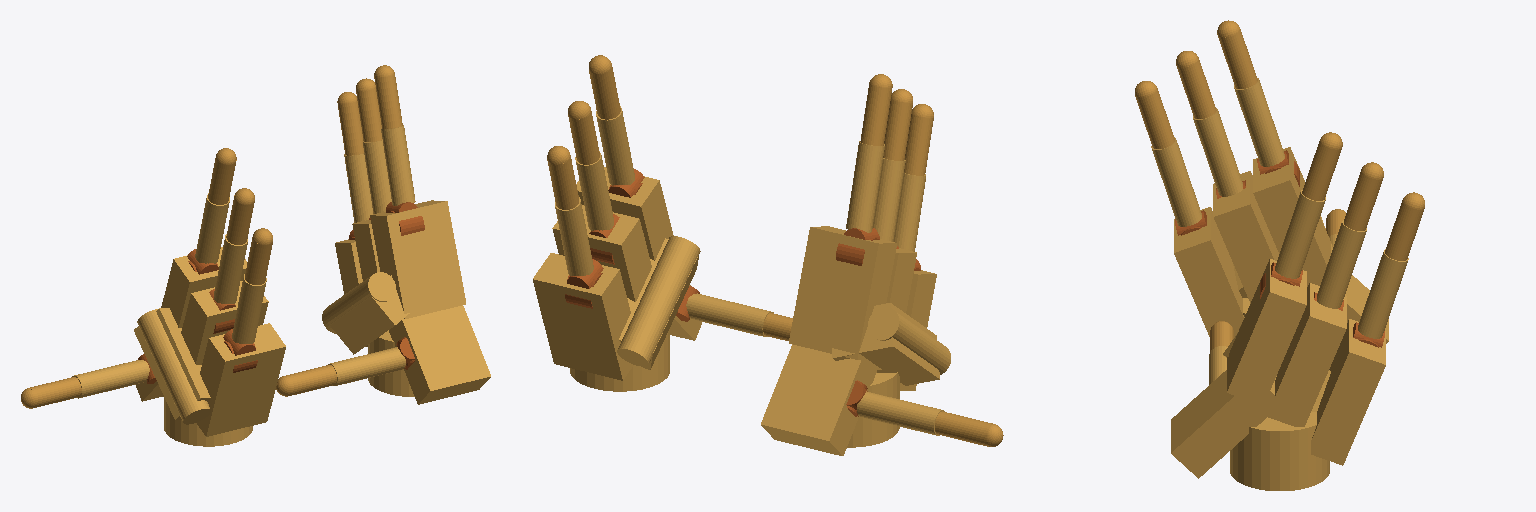
--- What the picture shows (computed from the rendered views, not written in the file) ---
3 views of the same robot in one strip: view 1: azimuth 30°, elevation 25°; view 2: azimuth 150°, elevation 25°; view 3: azimuth 270°, elevation 25° (orthographic).
Model sandia_hands with 79 links and 78 joints (30 revolute, 6 prismatic, 42 fixed), rooted at world, posed all joints at 0.
Visible links, largest first — view 1: right_palm, left_palm, right_f0_1, left_f3_1, right_f3_1, left_f1_1, left_f2_1, left_f0_1, right_f1_1, right_f2_1, right_f0_2, left_f3_2 (+8 smaller); view 2: left_palm, right_palm, left_f0_1, left_f3_1, right_f3_1, right_f2_1, right_f0_1, right_f1_1, left_f1_1, left_f2_1, left_f0_2, left_f3_2 (+8 smaller); view 3: right_palm, left_palm, right_f2_1, right_f0_1, left_f0_1, left_f2_1, right_f1_1, left_f1_1, right_f0_2, right_f1_2, left_f0_2, left_f1_2 (+3 smaller).
Link boxes in pixels (x1=…): right_palm: x1=322, y1=200, x2=490, y2=404; left_palm: x1=134, y1=247, x2=285, y2=446; right_f0_1: x1=381, y1=125, x2=415, y2=205; left_f3_1: x1=72, y1=360, x2=149, y2=398; right_f3_1: x1=328, y1=347, x2=405, y2=385; left_f1_1: x1=214, y1=234, x2=247, y2=303; left_f2_1: x1=232, y1=274, x2=266, y2=343; left_f0_1: x1=195, y1=193, x2=229, y2=263; right_f1_1: x1=363, y1=140, x2=391, y2=213; right_f2_1: x1=344, y1=153, x2=372, y2=222; right_f0_2: x1=374, y1=65, x2=402, y2=128; left_f3_2: x1=21, y1=377, x2=81, y2=408; left_palm: x1=761, y1=226, x2=950, y2=455; right_palm: x1=533, y1=167, x2=701, y2=391; left_f0_1: x1=846, y1=141, x2=884, y2=232; left_f3_1: x1=857, y1=391, x2=944, y2=435; right_f3_1: x1=686, y1=293, x2=773, y2=336; right_f2_1: x1=555, y1=197, x2=593, y2=275; right_f0_1: x1=596, y1=106, x2=634, y2=185; right_f1_1: x1=575, y1=151, x2=613, y2=230; left_f1_1: x1=873, y1=158, x2=905, y2=241; left_f2_1: x1=894, y1=173, x2=925, y2=251; left_f0_2: x1=860, y1=74, x2=892, y2=145; left_f3_2: x1=935, y1=411, x2=1003, y2=446; right_palm: x1=1171, y1=259, x2=1385, y2=490; left_palm: x1=1174, y1=147, x2=1388, y2=343; right_f2_1: x1=1358, y1=249, x2=1408, y2=338; right_f0_1: x1=1275, y1=190, x2=1325, y2=278; left_f0_1: x1=1234, y1=78, x2=1284, y2=166; left_f2_1: x1=1151, y1=137, x2=1201, y2=226; right_f1_1: x1=1317, y1=220, x2=1366, y2=308; left_f1_1: x1=1193, y1=108, x2=1242, y2=196; right_f0_2: x1=1302, y1=132, x2=1342, y2=200; right_f1_2: x1=1344, y1=162, x2=1383, y2=230; left_f0_2: x1=1217, y1=20, x2=1257, y2=88; left_f1_2: x1=1176, y1=51, x2=1216, y2=118.
Bounding box of the posed robot: 0.396 × 0.2197 × 0.2782 m (x, y, z).
Geometry: primitives only (box / cylinder / sphere), no mesh files.

The robot description file, URDF, robot "sandia_hands":
<?xml version="1.0" ?>
<!-- =================================================================================== -->
<!-- |    This document was autogenerated by xacro from sandia_hands_w_floating_bases.urdf.xacro | -->
<!-- |    EDITING THIS FILE BY HAND IS NOT RECOMMENDED                                 | -->
<!-- =================================================================================== -->
<robot name="sandia_hands" xmlns:controller="http://playerstage.sourceforge.net/gazebo/xmlschema/#controller" xmlns:interface="http://playerstage.sourceforge.net/gazebo/xmlschema/#interface" xmlns:sensor="http://playerstage.sourceforge.net/gazebo/xmlschema/#sensor" xmlns:xacro="http://www.ros.org/wiki/xacro">
  <!-- derived from /usr/share/sandia-hand-5.1/ros/sandia_hand_description/robots/sandia_hand_both_on_box.urdf.xacro-->
  <!-- Commenting out urdf with meshes, using simple collision shapes instead -->
  <!--<include filename="$(find sandia_hand_description)/urdf/sandia_hand.urdf.xacro" />-->
  <link name="world">
    <origin rpy="0 0 0" xyz="0 0 0"/>
    <inertial>
      <mass value="0.1"/>
      <origin xyz="0 0 0"/>
      <inertia ixx="0.01" ixy="0" ixz="0" iyy="0.01" iyz="0" izz="0.01"/>
    </inertial>
  </link>
  <link name="right_base_x">
    <origin rpy="0 0 0" xyz="0 0 0"/>
    <inertial>
      <mass value="0.1"/>
      <origin xyz="0 0 0"/>
      <inertia ixx="0.01" ixy="0" ixz="0" iyy="0.01" iyz="0" izz="0.01"/>
    </inertial>
  </link>
  <link name="right_base_y">
    <origin rpy="0 0 0" xyz="0 0 0"/>
    <inertial>
      <mass value="0.1"/>
      <origin xyz="0 0 0"/>
      <inertia ixx="0.01" ixy="0" ixz="0" iyy="0.01" iyz="0" izz="0.01"/>
    </inertial>
  </link>
  <link name="right_base_z">
    <origin rpy="0 0 0" xyz="0 0 0"/>
    <inertial>
      <mass value="0.1"/>
      <origin xyz="0 0 0"/>
      <inertia ixx="0.01" ixy="0" ixz="0" iyy="0.01" iyz="0" izz="0.01"/>
    </inertial>
  </link>
  <link name="right_base_roll">
    <origin rpy="0 0 0" xyz="0 0 0"/>
    <inertial>
      <mass value="0.1"/>
      <origin xyz="0 0 0"/>
      <inertia ixx="0.01" ixy="0" ixz="0" iyy="0.01" iyz="0" izz="0.01"/>
    </inertial>
  </link>
  <link name="right_base_pitch">
    <origin rpy="0 0 0" xyz="0 0 0"/>
    <inertial>
      <mass value="0.1"/>
      <origin xyz="0 0 0"/>
      <inertia ixx="0.01" ixy="0" ixz="0" iyy="0.01" iyz="0" izz="0.01"/>
    </inertial>
  </link>
  <link name="right_base_yaw">
    <origin rpy="0 0 0" xyz="0 0 0"/>
    <inertial>
      <mass value="0.1"/>
      <origin xyz="0 0 0"/>
      <inertia ixx="0.01" ixy="0" ixz="0" iyy="0.01" iyz="0" izz="0.01"/>
    </inertial>
  </link>
  <joint name="right_base_x" type="prismatic">
    <axis xyz="1 0 0"/>
    <parent link="world"/>
    <child link="right_base_x"/>
    <limit effort="1" lower="-10" upper="10" velocity="1"/>
    <!-- <safety_controller soft_lower_limit="${-1.57079-10.0}" soft_upper_limit="${1.57079+10.0}" k_position="1000.0" k_velocity="1000.0"/> -->
    <dynamics damping="0.1"/>
    <origin rpy="0 0 0" xyz="0.1 0 0.0"/>
  </joint>
  <joint name="right_base_y" type="prismatic">
    <axis xyz="0 1 0"/>
    <parent link="right_base_x"/>
    <child link="right_base_y"/>
    <limit effort="1" lower="-10" upper="10" velocity="1"/>
    <!-- <safety_controller soft_lower_limit="${-1.57079-10.0}" soft_upper_limit="${1.57079+10.0}" k_position="1000.0" k_velocity="1000.0"/> -->
    <dynamics damping="0.1"/>
    <origin rpy="0 0 0" xyz="0 0 0"/>
  </joint>
  <joint name="right_base_z" type="prismatic">
    <axis xyz="0 0 1"/>
    <parent link="right_base_y"/>
    <child link="right_base_z"/>
    <limit effort="1" lower="-10" upper="10" velocity="1"/>
    <!-- <safety_controller soft_lower_limit="${-1.57079-10.0}" soft_upper_limit="${1.57079+10.0}" k_position="1000.0" k_velocity="1000.0"/> -->
    <dynamics damping="0.1"/>
    <origin rpy="0 0 0" xyz="0 0 0"/>
  </joint>
  <joint name="right_base_roll" type="revolute">
    <axis xyz="1 0 0"/>
    <parent link="right_base_z"/>
    <child link="right_base_roll"/>
    <limit effort="1" lower="-6.2832" upper="6.2832" velocity="1"/>
    <safety_controller k_position="1000.0" k_velocity="1000.0" soft_lower_limit="-11.57079" soft_upper_limit="11.57079"/>
    <dynamics damping="0.1"/>
    <origin rpy="0 0 0" xyz="0 0 0"/>
  </joint>
  <joint name="right_base_pitch" type="revolute">
    <axis xyz="0 1 0"/>
    <parent link="right_base_roll"/>
    <child link="right_base_pitch"/>
    <limit effort="1" lower="-6.2832" upper="6.2832" velocity="1"/>
    <safety_controller k_position="1000.0" k_velocity="1000.0" soft_lower_limit="-11.57079" soft_upper_limit="11.57079"/>
    <dynamics damping="0.1"/>
    <origin rpy="0 0 0" xyz="0 0 0"/>
  </joint>
  <joint name="right_base_yaw" type="revolute">
    <axis xyz="0 0 1"/>
    <parent link="right_base_pitch"/>
    <child link="right_base_yaw"/>
    <limit effort="1" lower="-6.2832" upper="6.2832" velocity="1"/>
    <safety_controller k_position="1000.0" k_velocity="1000.0" soft_lower_limit="-11.57079" soft_upper_limit="11.57079"/>
    <dynamics damping="0.1"/>
    <origin rpy="0 0 0" xyz="0 0 0"/>
  </joint>
  <link name="right_palm">
    <origin rpy="0 0 0" xyz="0 0 0"/>
    <inertial>
      <mass value="1.303"/>
      <origin xyz="0 0 0"/>
      <!-- solid sphere with 5cm radius -->
      <inertia ixx="0.001303" ixy="0" ixz="0" iyy="0.001303" iyz="0" izz="0.001303"/>
    </inertial>
    <!-- begin simple shape approximation of palm -->
    <collision group="default">
      <origin rpy="0 1.57079632679 -0.9" xyz="0.069 0.016 0.038"/>
      <geometry>
        <cylinder length="0.100" radius="0.013"/>
      </geometry>
    </collision>
    <collision group="other">
      <origin rpy="0.41 0 -0.9" xyz="0.064 0.008 0.021"/>
      <geometry>
        <box size="0.09 .035 .05"/>
      </geometry>
    </collision>
    <collision group="other">
      <origin rpy="0 1.57079632679 0" xyz="0.02 0 -0.005"/>
      <geometry>
        <cylinder length="0.05" radius="0.038"/>
      </geometry>
    </collision>
    <collision group="other">
      <origin rpy="0 0 0.37" xyz="0.11 -0.01 -0.005"/>
      <geometry>
        <box size="0.09 .03 .06"/>
      </geometry>
    </collision>
    <collision group="other">
      <origin rpy="0 0 0.37" xyz="0.09 0.02 -0.005"/>
      <geometry>
        <box size="0.09 .03 .06"/>
      </geometry>
    </collision>
    <collision group="other">
      <origin rpy="0 0 0.37" xyz="0.060 0.05 -0.005"/>
      <geometry>
        <box size="0.09 .03 .06"/>
      </geometry>
    </collision>
    <collision group="other">
      <origin rpy="0 0 0.79" xyz="0.044 -0.04 -0.005"/>
      <geometry>
        <box size="0.09 .03 .06"/>
      </geometry>
    </collision>
    <!--   end simple shape approximation of palm -->
    <!-- begin visual shape approximation of palm -->
    <visual>
      <origin rpy="0 1.57079632679 -0.9" xyz="0.069 0.016 0.038"/>
      <geometry>
        <cylinder length="0.100" radius="0.013"/>
      </geometry>
      <material name="right_sandia_hand_skin">
        <color rgba="0.835 0.655 0.345 1.0"/>
      </material>
    </visual>
    <visual>
      <origin rpy="0.41 0 -0.9" xyz="0.064 0.008 0.021"/>
      <geometry>
        <box size="0.09 .035 .05"/>
      </geometry>
      <material name="right_sandia_hand_skin">
        <color rgba="0.835 0.655 0.345 1.0"/>
      </material>
    </visual>
    <visual>
      <origin rpy="0 1.57079632679 0" xyz="0.02 0 -0.005"/>
      <geometry>
        <cylinder length="0.05" radius="0.038"/>
      </geometry>
      <material name="right_sandia_hand_skin">
        <color rgba="0.835 0.655 0.345 1.0"/>
      </material>
    </visual>
    <visual>
      <origin rpy="0 0 0.37" xyz="0.11 -0.01 -0.005"/>
      <geometry>
        <box size="0.09 .03 .06"/>
      </geometry>
      <material name="right_sandia_hand_skin">
        <color rgba="0.835 0.655 0.345 1.0"/>
      </material>
    </visual>
    <visual>
      <origin rpy="0 0 0.37" xyz="0.09 0.02 -0.005"/>
      <geometry>
        <box size="0.09 .03 .06"/>
      </geometry>
      <material name="right_sandia_hand_skin">
        <color rgba="0.835 0.655 0.345 1.0"/>
      </material>
    </visual>
    <visual>
      <origin rpy="0 0 0.37" xyz="0.060 0.05 -0.005"/>
      <geometry>
        <box size="0.09 .03 .06"/>
      </geometry>
      <material name="right_sandia_hand_skin">
        <color rgba="0.835 0.655 0.345 1.0"/>
      </material>
    </visual>
    <visual>
      <origin rpy="0 0 0.79" xyz="0.044 -0.04 -0.005"/>
      <geometry>
        <box size="0.09 .03 .06"/>
      </geometry>
      <material name="right_sandia_hand_skin">
        <color rgba="0.835 0.655 0.345 1.0"/>
      </material>
    </visual>
    <!--   end visual shape approximation of palm -->
    <!-- begin collision mesh of f2 ->
      <collision group="default">
        <origin xyz="0 0 0" rpy="0 0 0"/>
        <geometry>
          <mesh filename="package://sandia_hand_description/meshes/palm.stl"/>
        </geometry>
      </collision>
      <!-   end collision mesh of f2 -->
    <!-- begin visual mesh of f2    ->
      <visual>
        <origin xyz="0 0 0" rpy="0 0 0"/>
        <geometry>
          <mesh filename="package://sandia_hand_description/meshes/palm.stl"/>
        </geometry>
        <material name="${side}_sandia_hand_skin">
          <color rgba="0.835 0.655 0.345 1.0"/>
        </material>
      </visual>
      <!-   end visual mesh of f2 -->
  </link>
  <joint name="right_sandia_hand_joint" type="fixed">
    <parent link="right_base_yaw"/>
    <child link="right_palm"/>
    <origin rpy="0 -1.57079 0" xyz="0 0 0.0"/>
  </joint>
  <link name="right_f0_base">
    <origin rpy="0 0 0" xyz="0 0 0"/>
    <inertial>
      <!-- total mass is 2.303 kg, palm is about 1.303 kg, distribute the rest into _base -->
      <mass value="0.250"/>
      <!-- (2.303 - 1.303) / 4 -->
      <origin xyz="0 0 0"/>
      <!-- model as sphere with radius of 1cm -->
      <inertia ixx="0.00001" ixy="0" ixz="0" iyy="0.00001" iyz="0" izz="0.00001"/>
    </inertial>
  </link>
  <link name="right_f0_fixed_accel">
    <origin rpy="0 0 0" xyz="0 0 0"/>
    <inertial>
      <mass value="0.01"/>
      <origin xyz="0 0 0"/>
      <inertia ixx="0.000001" ixy="0" ixz="0" iyy="0.000001" iyz="0" izz="0.000001"/>
    </inertial>
  </link>
  <link name="right_f0_0">
    <origin rpy="0 0 0" xyz="0 0 0"/>
    <inertial>
      <mass value="0.106"/>
      <!-- F1 -->
      <origin xyz="0 0 0"/>
      <!-- solid cylinder -->
      <inertia ixx="0.00011505" ixy="0" ixz="0" iyy="0.00011505" iyz="0" izz="0.000011925"/>
    </inertial>
    <!-- begin simple shape approximation of f0 -->
    <collision group="default">
      <origin rpy="0 0 0" xyz="0 0 0.003"/>
      <geometry>
        <cylinder length="0.023" radius="0.015"/>
      </geometry>
    </collision>
    <collision group="other">
      <origin rpy="1.57079632679 0 0" xyz="0.011 0 0.003"/>
      <geometry>
        <cylinder length="0.023" radius="0.01"/>
      </geometry>
    </collision>
    <!--   end simple shape approximation of f0 -->
    <!-- begin visual shape approximation of f0 -->
    <visual>
      <origin rpy="0 0 0" xyz="0 0 0.003"/>
      <geometry>
        <cylinder length="0.023" radius="0.015"/>
      </geometry>
      <material name="right_sandia_hand_skin_suntan">
        <color rgba="0.7 0.4 0.2 1.0"/>
      </material>
    </visual>
    <visual>
      <origin rpy="1.57079632679 0 0" xyz="0.011 0 0.003"/>
      <geometry>
        <cylinder length="0.023" radius="0.01"/>
      </geometry>
      <material name="right_sandia_hand_skin_suntan">
        <color rgba="0.7 0.4 0.2 1.0"/>
      </material>
    </visual>
    <!--   end visual shape approximation of f0 -->
    <!-- begin collision mesh of f0 ->
      <collision group="default">
        <origin xyz="0 0 0" rpy="0 0 0"/>
        <geometry>
          <mesh filename="package://sandia_hand_description/meshes/f0.stl"/>
        </geometry>
      </collision>
      <!-   end collision mesh of f0 -->
    <!-- begin visual mesh of f0 ->
      <visual>
        <origin xyz="0 0 0" rpy="0 0 0"/>
        <geometry>
          <mesh filename="package://sandia_hand_description/meshes/f0.stl"/>
        </geometry>
        <material name="${side}_sandia_hand_skin_suntan">
          <color rgba="0.7 0.4 0.2 1.0"/>
        </material>
      </visual>
      <!-   end visual mesh of f0 -->
  </link>
  <link name="right_f0_1">
    <origin rpy="0 0 0" xyz="0 0 0"/>
    <inertial>
      <mass value="0.033"/>
      <!-- F2 -->
      <origin xyz="0 0 0"/>
      <!-- solid cylinder -->
      <inertia ixx="0.00000165" ixy="0" ixz="0" iyy="0.00001316975" iyz="0" izz="0.00001316975"/>
    </inertial>
    <!-- begin simple shape approximation of f1 -->
    <collision group="default">
      <origin rpy="0 1.57079632679 0" xyz="0.024 0 0"/>
      <geometry>
        <cylinder length="0.067" radius="0.01"/>
      </geometry>
    </collision>
    <!--   end simple shape approximation of f1 -->
    <!-- begin visual shape approximation of f1 -->
    <visual>
      <origin rpy="0 1.57079632679 0" xyz="0.024 0 0"/>
      <geometry>
        <cylinder length="0.067" radius="0.01"/>
      </geometry>
      <material name="right_sandia_hand_skin">
        <color rgba="0.835 0.655 0.345 1.0"/>
      </material>
    </visual>
    <!--   end visual shape approximation of f1 -->
    <!-- begin collision mesh of f1 ->
      <collision group="default">
        <origin xyz="0 0 0" rpy="0 0 0"/>
        <geometry>
          <mesh filename="package://sandia_hand_description/meshes/f1.stl"/>
        </geometry>
      </collision>
      <!-   end collision mesh of f1 -->
    <!-- begin visual mesh of f1 ->
      <visual>
        <origin xyz="0 0 0" rpy="0 0 0"/>
        <geometry>
          <mesh filename="package://sandia_hand_description/meshes/f1.stl"/>
        </geometry>
        <material name="${side}_sandia_hand_skin">
          <color rgba="0.835 0.655 0.345 1.0"/>
        </material>
      </visual>
      <!-   end visual mesh of f1 -->
  </link>
  <link name="right_f0_1_accel">
    <origin rpy="0 0 0" xyz="0 0 0"/>
    <inertial>
      <mass value="0.01"/>
      <origin xyz="0 0 0"/>
      <inertia ixx="0.000001" ixy="0" ixz="0" iyy="0.000001" iyz="0" izz="0.000001"/>
    </inertial>
  </link>
  <link name="right_f0_2">
    <origin rpy="0 0 0" xyz="0 0 0"/>
    <inertial>
      <mass value="0.033"/>
      <!-- F3 -->
      <origin xyz="0 0 0"/>
      <!-- solid cylinder -->
      <inertia ixx="0.0000013365" ixy="0" ixz="0" iyy="0.000009603" iyz="0" izz="0.000009603"/>
    </inertial>
    <!-- begin simple shape approximation of f2 -->
    <collision group="default">
      <origin rpy="0 1.57079632679 0" xyz="0.024 0 0"/>
      <geometry>
        <cylinder length="0.057" radius="0.009"/>
      </geometry>
    </collision>
    <collision group="other">
      <origin rpy="0 0 0" xyz="0.052 0 0"/>
      <geometry>
        <sphere radius="0.009"/>
      </geometry>
    </collision>
    <!--   end simple shape approximation of f2 -->
    <!-- begin visual shape approximation of f2 -->
    <visual>
      <origin rpy="0 1.57079632679 0" xyz="0.024 0 0"/>
      <geometry>
        <cylinder length="0.057" radius="0.009"/>
      </geometry>
      <material name="right_sandia_hand_skin_suntan">
        <color rgba="0.8 0.6 0.3 1.0"/>
      </material>
    </visual>
    <visual>
      <origin rpy="0 0 0" xyz="0.052 0 0"/>
      <geometry>
        <sphere radius="0.009"/>
      </geometry>
      <material name="right_sandia_hand_skin_suntan">
        <color rgba="0.8 0.6 0.3 1.0"/>
      </material>
    </visual>
    <!-- begin collision mesh of f2    ->
      <collision group="default">
        <origin xyz="0 0 0" rpy="0 0 0"/>
        <geometry>
          <mesh filename="package://sandia_hand_description/meshes/f2.stl"/>
        </geometry>
      </collision>
      <!-   end collision mesh of f2 -->
    <!-- begin visual mesh of f2    ->
      <visual>
        <origin xyz="0 0 0" rpy="0 0 0"/>
        <geometry>
          <mesh filename="package://sandia_hand_description/meshes/f2.stl"/>
        </geometry>
        <material name="${side}_sandia_hand_skin_suntan">
          <color rgba="0.8 0.6 0.3 1.0"/>
        </material>
      </visual>
      <!-   end visual mesh of f2 -->
  </link>
  <link name="right_f0_2_accel">
    <origin rpy="0 0 0" xyz="0 0 0"/>
    <inertial>
      <mass value="0.01"/>
      <origin xyz="0 0 0"/>
      <inertia ixx="0.000001" ixy="0" ixz="0" iyy="0.000001" iyz="0" izz="0.000001"/>
    </inertial>
  </link>
  <joint name="right_f0_base" type="fixed">
    <parent link="right_palm"/>
    <child link="right_f0_base"/>
    <origin rpy="0 0 0.3" xyz="0.14 0.0 0"/>
  </joint>
  <joint name="right_f0_j0" type="revolute">
    <axis xyz="0 0 1"/>
    <parent link="right_f0_base"/>
    <child link="right_f0_0"/>
    <limit effort="11" lower="-1.57079632679" upper="1.57079632679" velocity="1"/>
    <safety_controller k_position="1000.0" k_velocity="1000.0" soft_lower_limit="-11.57079" soft_upper_limit="11.57079"/>
    <dynamics damping="30.0"/>
    <origin rpy="0 0 0" xyz="0 0 0"/>
  </joint>
  <joint name="right_f0_j1" type="revolute">
    <axis xyz="0 0 1"/>
    <parent link="right_f0_0"/>
    <child link="right_f0_1"/>
    <limit effort="28" lower="-1.57079632679" upper="1.57079632679" velocity="1"/>
    <safety_controller k_position="1000.0" k_velocity="1000.0" soft_lower_limit="-11.57079" soft_upper_limit="11.57079"/>
    <dynamics damping="30.0"/>
    <origin rpy="1.57079632679 0 0" xyz="0.028 0 0"/>
  </joint>
  <joint name="right_f0_j2" type="revolute">
    <axis xyz="0 0 1"/>
    <parent link="right_f0_1"/>
    <child link="right_f0_2"/>
    <origin rpy="0 0 0" xyz="0.05 0 0"/>
    <safety_controller k_position="1000.0" k_velocity="1000.0" soft_lower_limit="-11.57079" soft_upper_limit="11.57079"/>
    <dynamics damping="30.0"/>
    <limit effort="28" lower="-1.57079632679" upper="1.57079632679" velocity="1"/>
  </joint>
  <joint name="right_f0_fixed_accel" type="fixed">
    <parent link="right_f0_base"/>
    <child link="right_f0_fixed_accel"/>
    <origin rpy="0 0 0" xyz="-0.05 0 0"/>
  </joint>
  <joint name="right_f0_1_accel" type="fixed">
    <parent link="right_f0_1"/>
    <child link="right_f0_1_accel"/>
    <origin rpy="-1.57079632679 0 0" xyz="0.03 0 0"/>
  </joint>
  <joint name="right_f0_2_accel" type="fixed">
    <parent link="right_f0_2"/>
    <child link="right_f0_2_accel"/>
    <origin rpy="-1.57079632679 0 0" xyz="0.04 0 0"/>
  </joint>
  <transmission name="right_f0_j0" type="pr2_mechanism_model/SimpleTransmission">
    <joint name="right_f0_j0"/>
    <actuator name="right_f0_j0_motor"/>
    <mechanicalReduction>1</mechanicalReduction>
  </transmission>
  <transmission name="right_f0_j1" type="pr2_mechanism_model/SimpleTransmission">
    <joint name="right_f0_j1"/>
    <actuator name="right_f0_j1_motor"/>
    <mechanicalReduction>1</mechanicalReduction>
  </transmission>
  <transmission name="right_f0_j2" type="pr2_mechanism_model/SimpleTransmission">
    <joint name="right_f0_j2"/>
    <actuator name="right_f0_j2_motor"/>
    <mechanicalReduction>1</mechanicalReduction>
  </transmission>
  <gazebo reference="right_f0_base">
    <mu1>0.9</mu1>
    <mu2>0.9</mu2>
    <kp>10000.0</kp>
    <kd>1.0</kd>
    <maxVel>0.1</maxVel>
    <minDepth>0.0</minDepth>
  </gazebo>
  <gazebo reference="right_f0_0">
    <mu1>0.9</mu1>
    <mu2>0.9</mu2>
    <kp>10000.0</kp>
    <kd>1.0</kd>
    <maxVel>1.0</maxVel>
    <minDepth>0.0</minDepth>
  </gazebo>
  <gazebo reference="right_f0_1">
    <mu1>0.9</mu1>
    <mu2>0.9</mu2>
    <kp>10000.0</kp>
    <kd>1.0</kd>
    <maxVel>0.1</maxVel>
    <minDepth>0.0</minDepth>
  </gazebo>
  <gazebo reference="right_f0_2">
    <mu1>0.9</mu1>
    <mu2>0.9</mu2>
    <kp>10000.0</kp>
    <kd>1.0</kd>
    <maxVel>0.1</maxVel>
    <minDepth>0.0</minDepth>
  </gazebo>
  <gazebo reference="right_f0_j0">
    <cfmDamping>1</cfmDamping>
  </gazebo>
  <gazebo reference="right_f0_j1">
    <cfmDamping>1</cfmDamping>
  </gazebo>
  <gazebo reference="right_f0_j2">
    <cfmDamping>1</cfmDamping>
  </gazebo>
  <link name="right_f1_base">
    <origin rpy="0 0 0" xyz="0 0 0"/>
    <inertial>
      <!-- total mass is 2.303 kg, palm is about 1.303 kg, distribute the rest into _base -->
      <mass value="0.250"/>
      <!-- (2.303 - 1.303) / 4 -->
      <origin xyz="0 0 0"/>
      <!-- model as sphere with radius of 1cm -->
      <inertia ixx="0.00001" ixy="0" ixz="0" iyy="0.00001" iyz="0" izz="0.00001"/>
    </inertial>
  </link>
  <link name="right_f1_fixed_accel">
    <origin rpy="0 0 0" xyz="0 0 0"/>
    <inertial>
      <mass value="0.01"/>
      <origin xyz="0 0 0"/>
      <inertia ixx="0.000001" ixy="0" ixz="0" iyy="0.000001" iyz="0" izz="0.000001"/>
    </inertial>
  </link>
  <link name="right_f1_0">
    <origin rpy="0 0 0" xyz="0 0 0"/>
    <inertial>
      <mass value="0.106"/>
      <!-- F1 -->
      <origin xyz="0 0 0"/>
      <!-- solid cylinder -->
      <inertia ixx="0.00011505" ixy="0" ixz="0" iyy="0.00011505" iyz="0" izz="0.000011925"/>
    </inertial>
    <!-- begin simple shape approximation of f0 -->
    <collision group="default">
      <origin rpy="0 0 0" xyz="0 0 0.003"/>
      <geometry>
        <cylinder length="0.023" radius="0.015"/>
      </geometry>
    </collision>
    <collision group="other">
      <origin rpy="1.57079632679 0 0" xyz="0.011 0 0.003"/>
      <geometry>
        <cylinder length="0.023" radius="0.01"/>
      </geometry>
    </collision>
    <!--   end simple shape approximation of f0 -->
    <!-- begin visual shape approximation of f0 -->
    <visual>
      <origin rpy="0 0 0" xyz="0 0 0.003"/>
      <geometry>
        <cylinder length="0.023" radius="0.015"/>
      </geometry>
      <material name="right_sandia_hand_skin_suntan">
        <color rgba="0.7 0.4 0.2 1.0"/>
      </material>
    </visual>
    <visual>
      <origin rpy="1.57079632679 0 0" xyz="0.011 0 0.003"/>
      <geometry>
        <cylinder length="0.023" radius="0.01"/>
      </geometry>
      <material name="right_sandia_hand_skin_suntan">
        <color rgba="0.7 0.4 0.2 1.0"/>
      </material>
    </visual>
    <!--   end visual shape approximation of f0 -->
    <!-- begin collision mesh of f0 ->
      <collision group="default">
        <origin xyz="0 0 0" rpy="0 0 0"/>
        <geometry>
          <mesh filename="package://sandia_hand_description/meshes/f0.stl"/>
        </geometry>
      </collision>
      <!-   end collision mesh of f0 -->
    <!-- begin visual mesh of f0 ->
      <visual>
        <origin xyz="0 0 0" rpy="0 0 0"/>
        <geometry>
          <mesh filename="package://sandia_hand_description/meshes/f0.stl"/>
        </geometry>
        <material name="${side}_sandia_hand_skin_suntan">
          <color rgba="0.7 0.4 0.2 1.0"/>
        </material>
      </visual>
      <!-   end visual mesh of f0 -->
  </link>
  <link name="right_f1_1">
    <origin rpy="0 0 0" xyz="0 0 0"/>
    <inertial>
      <mass value="0.033"/>
      <!-- F2 -->
      <origin xyz="0 0 0"/>
      <!-- solid cylinder -->
      <inertia ixx="0.00000165" ixy="0" ixz="0" iyy="0.00001316975" iyz="0" izz="0.00001316975"/>
    </inertial>
    <!-- begin simple shape approximation of f1 -->
    <collision group="default">
      <origin rpy="0 1.57079632679 0" xyz="0.024 0 0"/>
      <geometry>
        <cylinder length="0.067" radius="0.01"/>
      </geometry>
    </collision>
    <!--   end simple shape approximation of f1 -->
    <!-- begin visual shape approximation of f1 -->
    <visual>
      <origin rpy="0 1.57079632679 0" xyz="0.024 0 0"/>
      <geometry>
        <cylinder length="0.067" radius="0.01"/>
      </geometry>
      <material name="right_sandia_hand_skin">
        <color rgba="0.835 0.655 0.345 1.0"/>
      </material>
    </visual>
    <!--   end visual shape approximation of f1 -->
    <!-- begin collision mesh of f1 ->
      <collision group="default">
        <origin xyz="0 0 0" rpy="0 0 0"/>
        <geometry>
          <mesh filename="package://sandia_hand_description/meshes/f1.stl"/>
        </geometry>
      </collision>
      <!-   end collision mesh of f1 -->
    <!-- begin visual mesh of f1 ->
      <visual>
        <origin xyz="0 0 0" rpy="0 0 0"/>
        <geometry>
          <mesh filename="package://sandia_hand_description/meshes/f1.stl"/>
        </geometry>
        <material name="${side}_sandia_hand_skin">
          <color rgba="0.835 0.655 0.345 1.0"/>
        </material>
      </visual>
      <!-   end visual mesh of f1 -->
  </link>
  <link name="right_f1_1_accel">
    <origin rpy="0 0 0" xyz="0 0 0"/>
    <inertial>
      <mass value="0.01"/>
      <origin xyz="0 0 0"/>
      <inertia ixx="0.000001" ixy="0" ixz="0" iyy="0.000001" iyz="0" izz="0.000001"/>
    </inertial>
  </link>
  <link name="right_f1_2">
    <origin rpy="0 0 0" xyz="0 0 0"/>
    <inertial>
      <mass value="0.033"/>
      <!-- F3 -->
      <origin xyz="0 0 0"/>
      <!-- solid cylinder -->
      <inertia ixx="0.0000013365" ixy="0" ixz="0" iyy="0.000009603" iyz="0" izz="0.000009603"/>
    </inertial>
    <!-- begin simple shape approximation of f2 -->
    <collision group="default">
      <origin rpy="0 1.57079632679 0" xyz="0.024 0 0"/>
      <geometry>
        <cylinder length="0.057" radius="0.009"/>
      </geometry>
    </collision>
    <collision group="other">
      <origin rpy="0 0 0" xyz="0.052 0 0"/>
      <geometry>
        <sphere radius="0.009"/>
      </geometry>
    </collision>
    <!--   end simple shape approximation of f2 -->
    <!-- begin visual shape approximation of f2 -->
    <visual>
      <origin rpy="0 1.57079632679 0" xyz="0.024 0 0"/>
      <geometry>
        <cylinder length="0.057" radius="0.009"/>
      </geometry>
      <material name="right_sandia_hand_skin_suntan">
        <color rgba="0.8 0.6 0.3 1.0"/>
      </material>
    </visual>
    <visual>
      <origin rpy="0 0 0" xyz="0.052 0 0"/>
      <geometry>
        <sphere radius="0.009"/>
      </geometry>
      <material name="right_sandia_hand_skin_suntan">
        <color rgba="0.8 0.6 0.3 1.0"/>
      </material>
    </visual>
    <!-- begin collision mesh of f2    ->
      <collision group="default">
        <origin xyz="0 0 0" rpy="0 0 0"/>
        <geometry>
          <mesh filename="package://sandia_hand_description/meshes/f2.stl"/>
        </geometry>
      </collision>
      <!-   end collision mesh of f2 -->
    <!-- begin visual mesh of f2    ->
      <visual>
        <origin xyz="0 0 0" rpy="0 0 0"/>
        <geometry>
          <mesh filename="package://sandia_hand_description/meshes/f2.stl"/>
        </geometry>
        <material name="${side}_sandia_hand_skin_suntan">
          <color rgba="0.8 0.6 0.3 1.0"/>
        </material>
      </visual>
      <!-   end visual mesh of f2 -->
  </link>
  <link name="right_f1_2_accel">
    <origin rpy="0 0 0" xyz="0 0 0"/>
    <inertial>
      <mass value="0.01"/>
      <origin xyz="0 0 0"/>
      <inertia ixx="0.000001" ixy="0" ixz="0" iyy="0.000001" iyz="0" izz="0.000001"/>
    </inertial>
  </link>
  <joint name="right_f1_base" type="fixed">
    <parent link="right_palm"/>
    <child link="right_f1_base"/>
    <origin rpy="0 0 0.3" xyz="0.115 0.03122 0"/>
  </joint>
  <joint name="right_f1_j0" type="revolute">
    <axis xyz="0 0 1"/>
    <parent link="right_f1_base"/>
    <child link="right_f1_0"/>
    <limit effort="11" lower="-1.57079632679" upper="1.57079632679" velocity="1"/>
    <safety_controller k_position="1000.0" k_velocity="1000.0" soft_lower_limit="-11.57079" soft_upper_limit="11.57079"/>
    <dynamics damping="30.0"/>
    <origin rpy="0 0 0" xyz="0 0 0"/>
  </joint>
  <joint name="right_f1_j1" type="revolute">
    <axis xyz="0 0 1"/>
    <parent link="right_f1_0"/>
    <child link="right_f1_1"/>
    <limit effort="28" lower="-1.57079632679" upper="1.57079632679" velocity="1"/>
    <safety_controller k_position="1000.0" k_velocity="1000.0" soft_lower_limit="-11.57079" soft_upper_limit="11.57079"/>
    <dynamics damping="30.0"/>
    <origin rpy="1.57079632679 0 0" xyz="0.028 0 0"/>
  </joint>
  <joint name="right_f1_j2" type="revolute">
    <axis xyz="0 0 1"/>
    <parent link="right_f1_1"/>
    <child link="right_f1_2"/>
    <origin rpy="0 0 0" xyz="0.05 0 0"/>
    <safety_controller k_position="1000.0" k_velocity="1000.0" soft_lower_limit="-11.57079" soft_upper_limit="11.57079"/>
    <dynamics damping="30.0"/>
    <limit effort="28" lower="-1.57079632679" upper="1.57079632679" velocity="1"/>
  </joint>
  <joint name="right_f1_fixed_accel" type="fixed">
    <parent link="right_f1_base"/>
    <child link="right_f1_fixed_accel"/>
    <origin rpy="0 0 0" xyz="-0.05 0 0"/>
  </joint>
  <joint name="right_f1_1_accel" type="fixed">
    <parent link="right_f1_1"/>
    <child link="right_f1_1_accel"/>
    <origin rpy="-1.57079632679 0 0" xyz="0.03 0 0"/>
  </joint>
  <joint name="right_f1_2_accel" type="fixed">
    <parent link="right_f1_2"/>
    <child link="right_f1_2_accel"/>
    <origin rpy="-1.57079632679 0 0" xyz="0.04 0 0"/>
  </joint>
  <transmission name="right_f1_j0" type="pr2_mechanism_model/SimpleTransmission">
    <joint name="right_f1_j0"/>
    <actuator name="right_f1_j0_motor"/>
    <mechanicalReduction>1</mechanicalReduction>
  </transmission>
  <transmission name="right_f1_j1" type="pr2_mechanism_model/SimpleTransmission">
    <joint name="right_f1_j1"/>
    <actuator name="right_f1_j1_motor"/>
    <mechanicalReduction>1</mechanicalReduction>
  </transmission>
  <transmission name="right_f1_j2" type="pr2_mechanism_model/SimpleTransmission">
    <joint name="right_f1_j2"/>
    <actuator name="right_f1_j2_motor"/>
    <mechanicalReduction>1</mechanicalReduction>
  </transmission>
  <gazebo reference="right_f1_base">
    <mu1>0.9</mu1>
    <mu2>0.9</mu2>
    <kp>10000.0</kp>
    <kd>1.0</kd>
    <maxVel>0.1</maxVel>
    <minDepth>0.0</minDepth>
  </gazebo>
  <gazebo reference="right_f1_0">
    <mu1>0.9</mu1>
    <mu2>0.9</mu2>
    <kp>10000.0</kp>
    <kd>1.0</kd>
    <maxVel>1.0</maxVel>
    <minDepth>0.0</minDepth>
  </gazebo>
  <gazebo reference="right_f1_1">
    <mu1>0.9</mu1>
    <mu2>0.9</mu2>
    <kp>10000.0</kp>
    <kd>1.0</kd>
    <maxVel>0.1</maxVel>
    <minDepth>0.0</minDepth>
  </gazebo>
  <gazebo reference="right_f1_2">
    <mu1>0.9</mu1>
    <mu2>0.9</mu2>
    <kp>10000.0</kp>
    <kd>1.0</kd>
    <maxVel>0.1</maxVel>
    <minDepth>0.0</minDepth>
  </gazebo>
  <gazebo reference="right_f1_j0">
    <cfmDamping>1</cfmDamping>
  </gazebo>
  <gazebo reference="right_f1_j1">
    <cfmDamping>1</cfmDamping>
  </gazebo>
  <gazebo reference="right_f1_j2">
    <cfmDamping>1</cfmDamping>
  </gazebo>
  <link name="right_f2_base">
    <origin rpy="0 0 0" xyz="0 0 0"/>
    <inertial>
      <!-- total mass is 2.303 kg, palm is about 1.303 kg, distribute the rest into _base -->
      <mass value="0.250"/>
      <!-- (2.303 - 1.303) / 4 -->
      <origin xyz="0 0 0"/>
      <!-- model as sphere with radius of 1cm -->
      <inertia ixx="0.00001" ixy="0" ixz="0" iyy="0.00001" iyz="0" izz="0.00001"/>
    </inertial>
  </link>
  <link name="right_f2_fixed_accel">
    <origin rpy="0 0 0" xyz="0 0 0"/>
    <inertial>
      <mass value="0.01"/>
      <origin xyz="0 0 0"/>
      <inertia ixx="0.000001" ixy="0" ixz="0" iyy="0.000001" iyz="0" izz="0.000001"/>
    </inertial>
  </link>
  <link name="right_f2_0">
    <origin rpy="0 0 0" xyz="0 0 0"/>
    <inertial>
      <mass value="0.106"/>
      <!-- F1 -->
      <origin xyz="0 0 0"/>
      <!-- solid cylinder -->
      <inertia ixx="0.00011505" ixy="0" ixz="0" iyy="0.00011505" iyz="0" izz="0.000011925"/>
    </inertial>
    <!-- begin simple shape approximation of f0 -->
    <collision group="default">
      <origin rpy="0 0 0" xyz="0 0 0.003"/>
      <geometry>
        <cylinder length="0.023" radius="0.015"/>
      </geometry>
    </collision>
    <collision group="other">
      <origin rpy="1.57079632679 0 0" xyz="0.011 0 0.003"/>
      <geometry>
        <cylinder length="0.023" radius="0.01"/>
      </geometry>
    </collision>
    <!--   end simple shape approximation of f0 -->
    <!-- begin visual shape approximation of f0 -->
    <visual>
      <origin rpy="0 0 0" xyz="0 0 0.003"/>
      <geometry>
        <cylinder length="0.023" radius="0.015"/>
      </geometry>
      <material name="right_sandia_hand_skin_suntan">
        <color rgba="0.7 0.4 0.2 1.0"/>
      </material>
    </visual>
    <visual>
      <origin rpy="1.57079632679 0 0" xyz="0.011 0 0.003"/>
      <geometry>
        <cylinder length="0.023" radius="0.01"/>
      </geometry>
      <material name="right_sandia_hand_skin_suntan">
        <color rgba="0.7 0.4 0.2 1.0"/>
      </material>
    </visual>
    <!--   end visual shape approximation of f0 -->
    <!-- begin collision mesh of f0 ->
      <collision group="default">
        <origin xyz="0 0 0" rpy="0 0 0"/>
        <geometry>
          <mesh filename="package://sandia_hand_description/meshes/f0.stl"/>
        </geometry>
      </collision>
      <!-   end collision mesh of f0 -->
    <!-- begin visual mesh of f0 ->
      <visual>
        <origin xyz="0 0 0" rpy="0 0 0"/>
        <geometry>
          <mesh filename="package://sandia_hand_description/meshes/f0.stl"/>
        </geometry>
        <material name="${side}_sandia_hand_skin_suntan">
          <color rgba="0.7 0.4 0.2 1.0"/>
        </material>
      </visual>
      <!-   end visual mesh of f0 -->
  </link>
  <link name="right_f2_1">
    <origin rpy="0 0 0" xyz="0 0 0"/>
    <inertial>
      <mass value="0.033"/>
      <!-- F2 -->
      <origin xyz="0 0 0"/>
      <!-- solid cylinder -->
      <inertia ixx="0.00000165" ixy="0" ixz="0" iyy="0.00001316975" iyz="0" izz="0.00001316975"/>
    </inertial>
    <!-- begin simple shape approximation of f1 -->
    <collision group="default">
      <origin rpy="0 1.57079632679 0" xyz="0.024 0 0"/>
      <geometry>
        <cylinder length="0.067" radius="0.01"/>
      </geometry>
    </collision>
    <!--   end simple shape approximation of f1 -->
    <!-- begin visual shape approximation of f1 -->
    <visual>
      <origin rpy="0 1.57079632679 0" xyz="0.024 0 0"/>
      <geometry>
        <cylinder length="0.067" radius="0.01"/>
      </geometry>
      <material name="right_sandia_hand_skin">
        <color rgba="0.835 0.655 0.345 1.0"/>
      </material>
    </visual>
    <!--   end visual shape approximation of f1 -->
    <!-- begin collision mesh of f1 ->
      <collision group="default">
        <origin xyz="0 0 0" rpy="0 0 0"/>
        <geometry>
          <mesh filename="package://sandia_hand_description/meshes/f1.stl"/>
        </geometry>
      </collision>
      <!-   end collision mesh of f1 -->
    <!-- begin visual mesh of f1 ->
      <visual>
        <origin xyz="0 0 0" rpy="0 0 0"/>
        <geometry>
          <mesh filename="package://sandia_hand_description/meshes/f1.stl"/>
        </geometry>
        <material name="${side}_sandia_hand_skin">
          <color rgba="0.835 0.655 0.345 1.0"/>
        </material>
      </visual>
      <!-   end visual mesh of f1 -->
  </link>
  <link name="right_f2_1_accel">
    <origin rpy="0 0 0" xyz="0 0 0"/>
    <inertial>
      <mass value="0.01"/>
      <origin xyz="0 0 0"/>
      <inertia ixx="0.000001" ixy="0" ixz="0" iyy="0.000001" iyz="0" izz="0.000001"/>
    </inertial>
  </link>
  <link name="right_f2_2">
    <origin rpy="0 0 0" xyz="0 0 0"/>
    <inertial>
      <mass value="0.033"/>
      <!-- F3 -->
      <origin xyz="0 0 0"/>
      <!-- solid cylinder -->
      <inertia ixx="0.0000013365" ixy="0" ixz="0" iyy="0.000009603" iyz="0" izz="0.000009603"/>
    </inertial>
    <!-- begin simple shape approximation of f2 -->
    <collision group="default">
      <origin rpy="0 1.57079632679 0" xyz="0.024 0 0"/>
      <geometry>
        <cylinder length="0.057" radius="0.009"/>
      </geometry>
    </collision>
    <collision group="other">
      <origin rpy="0 0 0" xyz="0.052 0 0"/>
      <geometry>
        <sphere radius="0.009"/>
      </geometry>
    </collision>
    <!--   end simple shape approximation of f2 -->
    <!-- begin visual shape approximation of f2 -->
    <visual>
      <origin rpy="0 1.57079632679 0" xyz="0.024 0 0"/>
      <geometry>
        <cylinder length="0.057" radius="0.009"/>
      </geometry>
      <material name="right_sandia_hand_skin_suntan">
        <color rgba="0.8 0.6 0.3 1.0"/>
      </material>
    </visual>
    <visual>
      <origin rpy="0 0 0" xyz="0.052 0 0"/>
      <geometry>
        <sphere radius="0.009"/>
      </geometry>
      <material name="right_sandia_hand_skin_suntan">
        <color rgba="0.8 0.6 0.3 1.0"/>
      </material>
    </visual>
    <!-- begin collision mesh of f2    ->
      <collision group="default">
        <origin xyz="0 0 0" rpy="0 0 0"/>
        <geometry>
          <mesh filename="package://sandia_hand_description/meshes/f2.stl"/>
        </geometry>
      </collision>
      <!-   end collision mesh of f2 -->
    <!-- begin visual mesh of f2    ->
      <visual>
        <origin xyz="0 0 0" rpy="0 0 0"/>
        <geometry>
          <mesh filename="package://sandia_hand_description/meshes/f2.stl"/>
        </geometry>
        <material name="${side}_sandia_hand_skin_suntan">
          <color rgba="0.8 0.6 0.3 1.0"/>
        </material>
      </visual>
      <!-   end visual mesh of f2 -->
  </link>
  <link name="right_f2_2_accel">
    <origin rpy="0 0 0" xyz="0 0 0"/>
    <inertial>
      <mass value="0.01"/>
      <origin xyz="0 0 0"/>
      <inertia ixx="0.000001" ixy="0" ixz="0" iyy="0.000001" iyz="0" izz="0.000001"/>
    </inertial>
  </link>
  <joint name="right_f2_base" type="fixed">
    <parent link="right_palm"/>
    <child link="right_f2_base"/>
    <origin rpy="0 0 0.3" xyz="0.09 0.06245 0"/>
  </joint>
  <joint name="right_f2_j0" type="revolute">
    <axis xyz="0 0 1"/>
    <parent link="right_f2_base"/>
    <child link="right_f2_0"/>
    <limit effort="11" lower="-1.57079632679" upper="1.57079632679" velocity="1"/>
    <safety_controller k_position="1000.0" k_velocity="1000.0" soft_lower_limit="-11.57079" soft_upper_limit="11.57079"/>
    <dynamics damping="30.0"/>
    <origin rpy="0 0 0" xyz="0 0 0"/>
  </joint>
  <joint name="right_f2_j1" type="revolute">
    <axis xyz="0 0 1"/>
    <parent link="right_f2_0"/>
    <child link="right_f2_1"/>
    <limit effort="28" lower="-1.57079632679" upper="1.57079632679" velocity="1"/>
    <safety_controller k_position="1000.0" k_velocity="1000.0" soft_lower_limit="-11.57079" soft_upper_limit="11.57079"/>
    <dynamics damping="30.0"/>
    <origin rpy="1.57079632679 0 0" xyz="0.028 0 0"/>
  </joint>
  <joint name="right_f2_j2" type="revolute">
    <axis xyz="0 0 1"/>
    <parent link="right_f2_1"/>
    <child link="right_f2_2"/>
    <origin rpy="0 0 0" xyz="0.05 0 0"/>
    <safety_controller k_position="1000.0" k_velocity="1000.0" soft_lower_limit="-11.57079" soft_upper_limit="11.57079"/>
    <dynamics damping="30.0"/>
    <limit effort="28" lower="-1.57079632679" upper="1.57079632679" velocity="1"/>
  </joint>
  <joint name="right_f2_fixed_accel" type="fixed">
    <parent link="right_f2_base"/>
    <child link="right_f2_fixed_accel"/>
    <origin rpy="0 0 0" xyz="-0.05 0 0"/>
  </joint>
  <joint name="right_f2_1_accel" type="fixed">
    <parent link="right_f2_1"/>
    <child link="right_f2_1_accel"/>
    <origin rpy="-1.57079632679 0 0" xyz="0.03 0 0"/>
  </joint>
  <joint name="right_f2_2_accel" type="fixed">
    <parent link="right_f2_2"/>
    <child link="right_f2_2_accel"/>
    <origin rpy="-1.57079632679 0 0" xyz="0.04 0 0"/>
  </joint>
  <transmission name="right_f2_j0" type="pr2_mechanism_model/SimpleTransmission">
    <joint name="right_f2_j0"/>
    <actuator name="right_f2_j0_motor"/>
    <mechanicalReduction>1</mechanicalReduction>
  </transmission>
  <transmission name="right_f2_j1" type="pr2_mechanism_model/SimpleTransmission">
    <joint name="right_f2_j1"/>
    <actuator name="right_f2_j1_motor"/>
    <mechanicalReduction>1</mechanicalReduction>
  </transmission>
  <transmission name="right_f2_j2" type="pr2_mechanism_model/SimpleTransmission">
    <joint name="right_f2_j2"/>
    <actuator name="right_f2_j2_motor"/>
    <mechanicalReduction>1</mechanicalReduction>
  </transmission>
  <gazebo reference="right_f2_base">
    <mu1>0.9</mu1>
    <mu2>0.9</mu2>
    <kp>10000.0</kp>
    <kd>1.0</kd>
    <maxVel>0.1</maxVel>
    <minDepth>0.0</minDepth>
  </gazebo>
  <gazebo reference="right_f2_0">
    <mu1>0.9</mu1>
    <mu2>0.9</mu2>
    <kp>10000.0</kp>
    <kd>1.0</kd>
    <maxVel>1.0</maxVel>
    <minDepth>0.0</minDepth>
  </gazebo>
  <gazebo reference="right_f2_1">
    <mu1>0.9</mu1>
    <mu2>0.9</mu2>
    <kp>10000.0</kp>
    <kd>1.0</kd>
    <maxVel>0.1</maxVel>
    <minDepth>0.0</minDepth>
  </gazebo>
  <gazebo reference="right_f2_2">
    <mu1>0.9</mu1>
    <mu2>0.9</mu2>
    <kp>10000.0</kp>
    <kd>1.0</kd>
    <maxVel>0.1</maxVel>
    <minDepth>0.0</minDepth>
  </gazebo>
  <gazebo reference="right_f2_j0">
    <cfmDamping>1</cfmDamping>
  </gazebo>
  <gazebo reference="right_f2_j1">
    <cfmDamping>1</cfmDamping>
  </gazebo>
  <gazebo reference="right_f2_j2">
    <cfmDamping>1</cfmDamping>
  </gazebo>
  <link name="right_f3_base">
    <origin rpy="0 0 0" xyz="0 0 0"/>
    <inertial>
      <!-- total mass is 2.303 kg, palm is about 1.303 kg, distribute the rest into _base -->
      <mass value="0.250"/>
      <!-- (2.303 - 1.303) / 4 -->
      <origin xyz="0 0 0"/>
      <!-- model as sphere with radius of 1cm -->
      <inertia ixx="0.00001" ixy="0" ixz="0" iyy="0.00001" iyz="0" izz="0.00001"/>
    </inertial>
  </link>
  <link name="right_f3_fixed_accel">
    <origin rpy="0 0 0" xyz="0 0 0"/>
    <inertial>
      <mass value="0.01"/>
      <origin xyz="0 0 0"/>
      <inertia ixx="0.000001" ixy="0" ixz="0" iyy="0.000001" iyz="0" izz="0.000001"/>
    </inertial>
  </link>
  <link name="right_f3_0">
    <origin rpy="0 0 0" xyz="0 0 0"/>
    <inertial>
      <mass value="0.106"/>
      <!-- F1 -->
      <origin xyz="0 0 0"/>
      <!-- solid cylinder -->
      <inertia ixx="0.00011505" ixy="0" ixz="0" iyy="0.00011505" iyz="0" izz="0.000011925"/>
    </inertial>
    <!-- begin simple shape approximation of f0 -->
    <collision group="default">
      <origin rpy="0 0 0" xyz="0 0 0.003"/>
      <geometry>
        <cylinder length="0.023" radius="0.015"/>
      </geometry>
    </collision>
    <collision group="other">
      <origin rpy="1.57079632679 0 0" xyz="0.011 0 0.003"/>
      <geometry>
        <cylinder length="0.023" radius="0.01"/>
      </geometry>
    </collision>
    <!--   end simple shape approximation of f0 -->
    <!-- begin visual shape approximation of f0 -->
    <visual>
      <origin rpy="0 0 0" xyz="0 0 0.003"/>
      <geometry>
        <cylinder length="0.023" radius="0.015"/>
      </geometry>
      <material name="right_sandia_hand_skin_suntan">
        <color rgba="0.7 0.4 0.2 1.0"/>
      </material>
    </visual>
    <visual>
      <origin rpy="1.57079632679 0 0" xyz="0.011 0 0.003"/>
      <geometry>
        <cylinder length="0.023" radius="0.01"/>
      </geometry>
      <material name="right_sandia_hand_skin_suntan">
        <color rgba="0.7 0.4 0.2 1.0"/>
      </material>
    </visual>
    <!--   end visual shape approximation of f0 -->
    <!-- begin collision mesh of f0 ->
      <collision group="default">
        <origin xyz="0 0 0" rpy="0 0 0"/>
        <geometry>
          <mesh filename="package://sandia_hand_description/meshes/f0.stl"/>
        </geometry>
      </collision>
      <!-   end collision mesh of f0 -->
    <!-- begin visual mesh of f0 ->
      <visual>
        <origin xyz="0 0 0" rpy="0 0 0"/>
        <geometry>
          <mesh filename="package://sandia_hand_description/meshes/f0.stl"/>
        </geometry>
        <material name="${side}_sandia_hand_skin_suntan">
          <color rgba="0.7 0.4 0.2 1.0"/>
        </material>
      </visual>
      <!-   end visual mesh of f0 -->
  </link>
  <link name="right_f3_1">
    <origin rpy="0 0 0" xyz="0 0 0"/>
    <inertial>
      <mass value="0.033"/>
      <!-- F2 -->
      <origin xyz="0 0 0"/>
      <!-- solid cylinder -->
      <inertia ixx="0.00000165" ixy="0" ixz="0" iyy="0.00001316975" iyz="0" izz="0.00001316975"/>
    </inertial>
    <!-- begin simple shape approximation of f1 -->
    <collision group="default">
      <origin rpy="0 1.57079632679 0" xyz="0.024 0 0"/>
      <geometry>
        <cylinder length="0.067" radius="0.01"/>
      </geometry>
    </collision>
    <!--   end simple shape approximation of f1 -->
    <!-- begin visual shape approximation of f1 -->
    <visual>
      <origin rpy="0 1.57079632679 0" xyz="0.024 0 0"/>
      <geometry>
        <cylinder length="0.067" radius="0.01"/>
      </geometry>
      <material name="right_sandia_hand_skin">
        <color rgba="0.835 0.655 0.345 1.0"/>
      </material>
    </visual>
    <!--   end visual shape approximation of f1 -->
    <!-- begin collision mesh of f1 ->
      <collision group="default">
        <origin xyz="0 0 0" rpy="0 0 0"/>
        <geometry>
          <mesh filename="package://sandia_hand_description/meshes/f1.stl"/>
        </geometry>
      </collision>
      <!-   end collision mesh of f1 -->
    <!-- begin visual mesh of f1 ->
      <visual>
        <origin xyz="0 0 0" rpy="0 0 0"/>
        <geometry>
          <mesh filename="package://sandia_hand_description/meshes/f1.stl"/>
        </geometry>
        <material name="${side}_sandia_hand_skin">
          <color rgba="0.835 0.655 0.345 1.0"/>
        </material>
      </visual>
      <!-   end visual mesh of f1 -->
  </link>
  <link name="right_f3_1_accel">
    <origin rpy="0 0 0" xyz="0 0 0"/>
    <inertial>
      <mass value="0.01"/>
      <origin xyz="0 0 0"/>
      <inertia ixx="0.000001" ixy="0" ixz="0" iyy="0.000001" iyz="0" izz="0.000001"/>
    </inertial>
  </link>
  <link name="right_f3_2">
    <origin rpy="0 0 0" xyz="0 0 0"/>
    <inertial>
      <mass value="0.033"/>
      <!-- F3 -->
      <origin xyz="0 0 0"/>
      <!-- solid cylinder -->
      <inertia ixx="0.0000013365" ixy="0" ixz="0" iyy="0.000009603" iyz="0" izz="0.000009603"/>
    </inertial>
    <!-- begin simple shape approximation of f2 -->
    <collision group="default">
      <origin rpy="0 1.57079632679 0" xyz="0.024 0 0"/>
      <geometry>
        <cylinder length="0.057" radius="0.009"/>
      </geometry>
    </collision>
    <collision group="other">
      <origin rpy="0 0 0" xyz="0.052 0 0"/>
      <geometry>
        <sphere radius="0.009"/>
      </geometry>
    </collision>
    <!--   end simple shape approximation of f2 -->
    <!-- begin visual shape approximation of f2 -->
    <visual>
      <origin rpy="0 1.57079632679 0" xyz="0.024 0 0"/>
      <geometry>
        <cylinder length="0.057" radius="0.009"/>
      </geometry>
      <material name="right_sandia_hand_skin_suntan">
        <color rgba="0.8 0.6 0.3 1.0"/>
      </material>
    </visual>
    <visual>
      <origin rpy="0 0 0" xyz="0.052 0 0"/>
      <geometry>
        <sphere radius="0.009"/>
      </geometry>
      <material name="right_sandia_hand_skin_suntan">
        <color rgba="0.8 0.6 0.3 1.0"/>
      </material>
    </visual>
    <!-- begin collision mesh of f2    ->
      <collision group="default">
        <origin xyz="0 0 0" rpy="0 0 0"/>
        <geometry>
          <mesh filename="package://sandia_hand_description/meshes/f2.stl"/>
        </geometry>
      </collision>
      <!-   end collision mesh of f2 -->
    <!-- begin visual mesh of f2    ->
      <visual>
        <origin xyz="0 0 0" rpy="0 0 0"/>
        <geometry>
          <mesh filename="package://sandia_hand_description/meshes/f2.stl"/>
        </geometry>
        <material name="${side}_sandia_hand_skin_suntan">
          <color rgba="0.8 0.6 0.3 1.0"/>
        </material>
      </visual>
      <!-   end visual mesh of f2 -->
  </link>
  <link name="right_f3_2_accel">
    <origin rpy="0 0 0" xyz="0 0 0"/>
    <inertial>
      <mass value="0.01"/>
      <origin xyz="0 0 0"/>
      <inertia ixx="0.000001" ixy="0" ixz="0" iyy="0.000001" iyz="0" izz="0.000001"/>
    </inertial>
  </link>
  <joint name="right_f3_base" type="fixed">
    <parent link="right_palm"/>
    <child link="right_f3_base"/>
    <origin rpy="0 -1.57079632679 -2.3562" xyz="0.03995 -0.04383 0.014"/>
  </joint>
  <joint name="right_f3_j0" type="revolute">
    <axis xyz="0 0 1"/>
    <parent link="right_f3_base"/>
    <child link="right_f3_0"/>
    <limit effort="11" lower="-1.57079632679" upper="1.57079632679" velocity="1"/>
    <safety_controller k_position="1000.0" k_velocity="1000.0" soft_lower_limit="-11.57079" soft_upper_limit="11.57079"/>
    <dynamics damping="30.0"/>
    <origin rpy="0 0 0" xyz="0 0 0"/>
  </joint>
  <joint name="right_f3_j1" type="revolute">
    <axis xyz="0 0 1"/>
    <parent link="right_f3_0"/>
    <child link="right_f3_1"/>
    <limit effort="28" lower="-1.57079632679" upper="1.57079632679" velocity="1"/>
    <safety_controller k_position="1000.0" k_velocity="1000.0" soft_lower_limit="-11.57079" soft_upper_limit="11.57079"/>
    <dynamics damping="30.0"/>
    <origin rpy="1.57079632679 0 0" xyz="0.028 0 0"/>
  </joint>
  <joint name="right_f3_j2" type="revolute">
    <axis xyz="0 0 1"/>
    <parent link="right_f3_1"/>
    <child link="right_f3_2"/>
    <origin rpy="0 0 0" xyz="0.05 0 0"/>
    <safety_controller k_position="1000.0" k_velocity="1000.0" soft_lower_limit="-11.57079" soft_upper_limit="11.57079"/>
    <dynamics damping="30.0"/>
    <limit effort="28" lower="-1.57079632679" upper="1.57079632679" velocity="1"/>
  </joint>
  <joint name="right_f3_fixed_accel" type="fixed">
    <parent link="right_f3_base"/>
    <child link="right_f3_fixed_accel"/>
    <origin rpy="0 0 0" xyz="-0.05 0 0"/>
  </joint>
  <joint name="right_f3_1_accel" type="fixed">
    <parent link="right_f3_1"/>
    <child link="right_f3_1_accel"/>
    <origin rpy="-1.57079632679 0 0" xyz="0.03 0 0"/>
  </joint>
  <joint name="right_f3_2_accel" type="fixed">
    <parent link="right_f3_2"/>
    <child link="right_f3_2_accel"/>
    <origin rpy="-1.57079632679 0 0" xyz="0.04 0 0"/>
  </joint>
  <transmission name="right_f3_j0" type="pr2_mechanism_model/SimpleTransmission">
    <joint name="right_f3_j0"/>
    <actuator name="right_f3_j0_motor"/>
    <mechanicalReduction>1</mechanicalReduction>
  </transmission>
  <transmission name="right_f3_j1" type="pr2_mechanism_model/SimpleTransmission">
    <joint name="right_f3_j1"/>
    <actuator name="right_f3_j1_motor"/>
    <mechanicalReduction>1</mechanicalReduction>
  </transmission>
  <transmission name="right_f3_j2" type="pr2_mechanism_model/SimpleTransmission">
    <joint name="right_f3_j2"/>
    <actuator name="right_f3_j2_motor"/>
    <mechanicalReduction>1</mechanicalReduction>
  </transmission>
  <gazebo reference="right_f3_base">
    <mu1>0.9</mu1>
    <mu2>0.9</mu2>
    <kp>10000.0</kp>
    <kd>1.0</kd>
    <maxVel>0.1</maxVel>
    <minDepth>0.0</minDepth>
  </gazebo>
  <gazebo reference="right_f3_0">
    <mu1>0.9</mu1>
    <mu2>0.9</mu2>
    <kp>10000.0</kp>
    <kd>1.0</kd>
    <maxVel>1.0</maxVel>
    <minDepth>0.0</minDepth>
  </gazebo>
  <gazebo reference="right_f3_1">
    <mu1>0.9</mu1>
    <mu2>0.9</mu2>
    <kp>10000.0</kp>
    <kd>1.0</kd>
    <maxVel>0.1</maxVel>
    <minDepth>0.0</minDepth>
  </gazebo>
  <gazebo reference="right_f3_2">
    <mu1>0.9</mu1>
    <mu2>0.9</mu2>
    <kp>10000.0</kp>
    <kd>1.0</kd>
    <maxVel>0.1</maxVel>
    <minDepth>0.0</minDepth>
  </gazebo>
  <gazebo reference="right_f3_j0">
    <cfmDamping>1</cfmDamping>
  </gazebo>
  <gazebo reference="right_f3_j1">
    <cfmDamping>1</cfmDamping>
  </gazebo>
  <gazebo reference="right_f3_j2">
    <cfmDamping>1</cfmDamping>
  </gazebo>
  <gazebo reference="right_palm">
    <mu1>0.9</mu1>
    <mu2>0.9</mu2>
  </gazebo>
  <joint name="right_palm_left_camera_frame_joint" type="fixed">
    <origin rpy="0.6708 -1.57079632679 3.14159265359" xyz="0.0683774130138 0.0138342911048 0.025"/>
    <parent link="right_palm"/>
    <child link="right_palm_left_camera_frame"/>
  </joint>
  <link name="right_palm_left_camera_frame">
    <inertial>
      <mass value="0.01"/>
      <origin xyz="0 0 0"/>
      <inertia ixx="0.0001" ixy="0.0" ixz="0.0" iyy="0.0001" iyz="0.0" izz="0.0001"/>
    </inertial>
    <visual group="default">
      <origin rpy="0 0 0" xyz="0 0 0"/>
      <geometry>
        <box size="0.003 0.010 0.007"/>
      </geometry>
    </visual>
  </link>
  <joint name="right_palm_left_camera_optical_frame_joint" type="fixed">
    <origin rpy="-1.57079632679 0.0 -1.57079632679" xyz="0 0 0"/>
    <parent link="right_palm_left_camera_frame"/>
    <child link="right_palm_left_camera_optical_frame"/>
  </joint>
  <link name="right_palm_left_camera_optical_frame"/>
  <gazebo reference="right_palm_left_camera_frame">
    <sensor name="right_palm_stereo_camera" type="multicamera">
      <update_rate>60.0</update_rate>
      <camera name="left">
        <horizontal_fov>1.25663706144</horizontal_fov>
        <image>
          <width>752</width>
          <height>480</height>
          <format>L8</format>
        </image>
        <clip>
          <near>0.02</near>
          <far>100</far>
        </clip>
        <noise>
          <type>gaussian</type>
          <mean>0.0</mean>
          <stddev>0.007</stddev>
        </noise>
      </camera>
      <camera name="right">
        <pose>0 -0.04 0  0 0 0</pose>
        <horizontal_fov>1.25663706144</horizontal_fov>
        <image>
          <width>752</width>
          <height>480</height>
          <format>L8</format>
        </image>
        <clip>
          <near>0.02</near>
          <far>100</far>
        </clip>
        <noise>
          <type>gaussian</type>
          <mean>0.0</mean>
          <stddev>0.007</stddev>
        </noise>
      </camera>
      <plugin filename="libgazebo_ros_multicamera.so" name="stereo_camera_controller">
        <alwaysOn>true</alwaysOn>
        <updateRate>0.0</updateRate>
        <cameraName>sandia_hands/right_base_yaw/camera</cameraName>
        <imageTopicName>image_raw</imageTopicName>
        <cameraInfoTopicName>camera_info</cameraInfoTopicName>
        <frameName>right_palm_left_camera_optical_frame</frameName>
        <hackBaseline>0.04</hackBaseline>
        <distortionK1>0.0</distortionK1>
        <distortionK2>0.0</distortionK2>
        <distortionK3>0.0</distortionK3>
        <distortionT1>0.0</distortionT1>
        <distortionT2>0.0</distortionT2>
      </plugin>
    </sensor>
  </gazebo>
  <joint name="right_palm_right_camera_frame_joint" type="fixed">
    <origin rpy="0.6708 -1.57079632679 3.14159265359" xyz="0.0435128991906 0.0451672761576 0.025"/>
    <parent link="right_palm"/>
    <child link="right_palm_right_camera_frame"/>
  </joint>
  <link name="right_palm_right_camera_frame">
    <inertial>
      <mass value="0.01"/>
      <origin xyz="0 0 0"/>
      <inertia ixx="0.0001" ixy="0.0" ixz="0.0" iyy="0.0001" iyz="0.0" izz="0.0001"/>
    </inertial>
    <visual group="default">
      <origin rpy="0 0 0" xyz="0 0 0"/>
      <geometry>
        <box size="0.003 0.010 0.007"/>
      </geometry>
    </visual>
  </link>
  <joint name="right_palm_right_camera_optical_frame_joint" type="fixed">
    <origin rpy="-1.57079632679 0.0 -1.57079632679" xyz="0 0 0"/>
    <parent link="right_palm_right_camera_frame"/>
    <child link="right_palm_right_camera_optical_frame"/>
  </joint>
  <link name="right_palm_right_camera_optical_frame"/>
  <link name="left_base_x">
    <origin rpy="0 0 0" xyz="0 0 0"/>
    <inertial>
      <mass value="0.1"/>
      <origin xyz="0 0 0"/>
      <inertia ixx="0.01" ixy="0" ixz="0" iyy="0.01" iyz="0" izz="0.01"/>
    </inertial>
  </link>
  <link name="left_base_y">
    <origin rpy="0 0 0" xyz="0 0 0"/>
    <inertial>
      <mass value="0.1"/>
      <origin xyz="0 0 0"/>
      <inertia ixx="0.01" ixy="0" ixz="0" iyy="0.01" iyz="0" izz="0.01"/>
    </inertial>
  </link>
  <link name="left_base_z">
    <origin rpy="0 0 0" xyz="0 0 0"/>
    <inertial>
      <mass value="0.1"/>
      <origin xyz="0 0 0"/>
      <inertia ixx="0.01" ixy="0" ixz="0" iyy="0.01" iyz="0" izz="0.01"/>
    </inertial>
  </link>
  <link name="left_base_roll">
    <origin rpy="0 0 0" xyz="0 0 0"/>
    <inertial>
      <mass value="0.1"/>
      <origin xyz="0 0 0"/>
      <inertia ixx="0.01" ixy="0" ixz="0" iyy="0.01" iyz="0" izz="0.01"/>
    </inertial>
  </link>
  <link name="left_base_pitch">
    <origin rpy="0 0 0" xyz="0 0 0"/>
    <inertial>
      <mass value="0.1"/>
      <origin xyz="0 0 0"/>
      <inertia ixx="0.01" ixy="0" ixz="0" iyy="0.01" iyz="0" izz="0.01"/>
    </inertial>
  </link>
  <link name="left_base_yaw">
    <origin rpy="0 0 0" xyz="0 0 0"/>
    <inertial>
      <mass value="0.1"/>
      <origin xyz="0 0 0"/>
      <inertia ixx="0.01" ixy="0" ixz="0" iyy="0.01" iyz="0" izz="0.01"/>
    </inertial>
  </link>
  <joint name="left_base_x" type="prismatic">
    <axis xyz="1 0 0"/>
    <parent link="world"/>
    <child link="left_base_x"/>
    <limit effort="1" lower="-10" upper="10" velocity="1"/>
    <!-- <safety_controller soft_lower_limit="${-1.57079-10.0}" soft_upper_limit="${1.57079+10.0}" k_position="1000.0" k_velocity="1000.0"/> -->
    <dynamics damping="0.1"/>
    <origin rpy="0 0 0" xyz="-0.1 0 0.0"/>
  </joint>
  <joint name="left_base_y" type="prismatic">
    <axis xyz="0 1 0"/>
    <parent link="left_base_x"/>
    <child link="left_base_y"/>
    <limit effort="1" lower="-10" upper="10" velocity="1"/>
    <!-- <safety_controller soft_lower_limit="${-1.57079-10.0}" soft_upper_limit="${1.57079+10.0}" k_position="1000.0" k_velocity="1000.0"/> -->
    <dynamics damping="0.1"/>
    <origin rpy="0 0 0" xyz="0 0 0"/>
  </joint>
  <joint name="left_base_z" type="prismatic">
    <axis xyz="0 0 1"/>
    <parent link="left_base_y"/>
    <child link="left_base_z"/>
    <limit effort="1" lower="-10" upper="10" velocity="1"/>
    <!-- <safety_controller soft_lower_limit="${-1.57079-10.0}" soft_upper_limit="${1.57079+10.0}" k_position="1000.0" k_velocity="1000.0"/> -->
    <dynamics damping="0.1"/>
    <origin rpy="0 0 0" xyz="0 0 0"/>
  </joint>
  <joint name="left_base_roll" type="revolute">
    <axis xyz="1 0 0"/>
    <parent link="left_base_z"/>
    <child link="left_base_roll"/>
    <limit effort="1" lower="-6.2832" upper="6.2832" velocity="1"/>
    <safety_controller k_position="1000.0" k_velocity="1000.0" soft_lower_limit="-11.57079" soft_upper_limit="11.57079"/>
    <dynamics damping="0.1"/>
    <origin rpy="0 0 0" xyz="0 0 0"/>
  </joint>
  <joint name="left_base_pitch" type="revolute">
    <axis xyz="0 1 0"/>
    <parent link="left_base_roll"/>
    <child link="left_base_pitch"/>
    <limit effort="1" lower="-6.2832" upper="6.2832" velocity="1"/>
    <safety_controller k_position="1000.0" k_velocity="1000.0" soft_lower_limit="-11.57079" soft_upper_limit="11.57079"/>
    <dynamics damping="0.1"/>
    <origin rpy="0 0 0" xyz="0 0 0"/>
  </joint>
  <joint name="left_base_yaw" type="revolute">
    <axis xyz="0 0 1"/>
    <parent link="left_base_pitch"/>
    <child link="left_base_yaw"/>
    <limit effort="1" lower="-6.2832" upper="6.2832" velocity="1"/>
    <safety_controller k_position="1000.0" k_velocity="1000.0" soft_lower_limit="-11.57079" soft_upper_limit="11.57079"/>
    <dynamics damping="0.1"/>
    <origin rpy="0 0 0" xyz="0 0 0"/>
  </joint>
  <link name="left_palm">
    <origin rpy="0 0 0" xyz="0 0 0"/>
    <inertial>
      <mass value="1.303"/>
      <origin xyz="0 0 0"/>
      <!-- solid sphere with 5cm radius -->
      <inertia ixx="0.001303" ixy="0" ixz="0" iyy="0.001303" iyz="0" izz="0.001303"/>
    </inertial>
    <!-- begin simple shape approximation of palm -->
    <collision group="default">
      <origin rpy="0 1.57079632679 0.9" xyz="0.069 -0.016 0.038"/>
      <geometry>
        <cylinder length="0.100" radius="0.013"/>
      </geometry>
    </collision>
    <collision group="other">
      <origin rpy="0.41 0 0.9" xyz="0.064 -0.008 0.021"/>
      <geometry>
        <box size="0.09 .035 .05"/>
      </geometry>
    </collision>
    <collision group="other">
      <origin rpy="0 1.57079632679 0" xyz="0.02 0 -0.005"/>
      <geometry>
        <cylinder length="0.05" radius="0.038"/>
      </geometry>
    </collision>
    <collision group="other">
      <origin rpy="0 0 -0.37" xyz="0.11 0.01 -0.005"/>
      <geometry>
        <box size="0.09 .03 .06"/>
      </geometry>
    </collision>
    <collision group="other">
      <origin rpy="0 0 -0.37" xyz="0.09 -0.02 -0.005"/>
      <geometry>
        <box size="0.09 .03 .06"/>
      </geometry>
    </collision>
    <collision group="other">
      <origin rpy="0 0 -0.37" xyz="0.060 -0.05 -0.005"/>
      <geometry>
        <box size="0.09 .03 .06"/>
      </geometry>
    </collision>
    <collision group="other">
      <origin rpy="0 0 -0.79" xyz="0.044 0.04 -0.005"/>
      <geometry>
        <box size="0.09 .03 .06"/>
      </geometry>
    </collision>
    <!--   end simple shape approximation of palm -->
    <!-- begin visual shape approximation of palm -->
    <visual>
      <origin rpy="0 1.57079632679 0.9" xyz="0.069 -0.016 0.038"/>
      <geometry>
        <cylinder length="0.100" radius="0.013"/>
      </geometry>
      <material name="left_sandia_hand_skin">
        <color rgba="0.835 0.655 0.345 1.0"/>
      </material>
    </visual>
    <visual>
      <origin rpy="0.41 0 0.9" xyz="0.064 -0.008 0.021"/>
      <geometry>
        <box size="0.09 .035 .05"/>
      </geometry>
      <material name="left_sandia_hand_skin">
        <color rgba="0.835 0.655 0.345 1.0"/>
      </material>
    </visual>
    <visual>
      <origin rpy="0 1.57079632679 0" xyz="0.02 0 -0.005"/>
      <geometry>
        <cylinder length="0.05" radius="0.038"/>
      </geometry>
      <material name="left_sandia_hand_skin">
        <color rgba="0.835 0.655 0.345 1.0"/>
      </material>
    </visual>
    <visual>
      <origin rpy="0 0 -0.37" xyz="0.11 0.01 -0.005"/>
      <geometry>
        <box size="0.09 .03 .06"/>
      </geometry>
      <material name="left_sandia_hand_skin">
        <color rgba="0.835 0.655 0.345 1.0"/>
      </material>
    </visual>
    <visual>
      <origin rpy="0 0 -0.37" xyz="0.09 -0.02 -0.005"/>
      <geometry>
        <box size="0.09 .03 .06"/>
      </geometry>
      <material name="left_sandia_hand_skin">
        <color rgba="0.835 0.655 0.345 1.0"/>
      </material>
    </visual>
    <visual>
      <origin rpy="0 0 -0.37" xyz="0.060 -0.05 -0.005"/>
      <geometry>
        <box size="0.09 .03 .06"/>
      </geometry>
      <material name="left_sandia_hand_skin">
        <color rgba="0.835 0.655 0.345 1.0"/>
      </material>
    </visual>
    <visual>
      <origin rpy="0 0 -0.79" xyz="0.044 0.04 -0.005"/>
      <geometry>
        <box size="0.09 .03 .06"/>
      </geometry>
      <material name="left_sandia_hand_skin">
        <color rgba="0.835 0.655 0.345 1.0"/>
      </material>
    </visual>
    <!--   end visual shape approximation of palm -->
    <!-- begin collision mesh of f2 ->
      <collision group="default">
        <origin xyz="0 0 0" rpy="0 0 0"/>
        <geometry>
          <mesh filename="package://sandia_hand_description/meshes/palm.stl"/>
        </geometry>
      </collision>
      <!-   end collision mesh of f2 -->
    <!-- begin visual mesh of f2    ->
      <visual>
        <origin xyz="0 0 0" rpy="0 0 0"/>
        <geometry>
          <mesh filename="package://sandia_hand_description/meshes/palm.stl"/>
        </geometry>
        <material name="${side}_sandia_hand_skin">
          <color rgba="0.835 0.655 0.345 1.0"/>
        </material>
      </visual>
      <!-   end visual mesh of f2 -->
  </link>
  <joint name="left_sandia_hand_joint" type="fixed">
    <parent link="left_base_yaw"/>
    <child link="left_palm"/>
    <origin rpy="0 -1.57079 0" xyz="0 0 0.0"/>
  </joint>
  <link name="left_f0_base">
    <origin rpy="0 0 0" xyz="0 0 0"/>
    <inertial>
      <!-- total mass is 2.303 kg, palm is about 1.303 kg, distribute the rest into _base -->
      <mass value="0.250"/>
      <!-- (2.303 - 1.303) / 4 -->
      <origin xyz="0 0 0"/>
      <!-- model as sphere with radius of 1cm -->
      <inertia ixx="0.00001" ixy="0" ixz="0" iyy="0.00001" iyz="0" izz="0.00001"/>
    </inertial>
  </link>
  <link name="left_f0_fixed_accel">
    <origin rpy="0 0 0" xyz="0 0 0"/>
    <inertial>
      <mass value="0.01"/>
      <origin xyz="0 0 0"/>
      <inertia ixx="0.000001" ixy="0" ixz="0" iyy="0.000001" iyz="0" izz="0.000001"/>
    </inertial>
  </link>
  <link name="left_f0_0">
    <origin rpy="0 0 0" xyz="0 0 0"/>
    <inertial>
      <mass value="0.106"/>
      <!-- F1 -->
      <origin xyz="0 0 0"/>
      <!-- solid cylinder -->
      <inertia ixx="0.00011505" ixy="0" ixz="0" iyy="0.00011505" iyz="0" izz="0.000011925"/>
    </inertial>
    <!-- begin simple shape approximation of f0 -->
    <collision group="default">
      <origin rpy="0 0 0" xyz="0 0 0.003"/>
      <geometry>
        <cylinder length="0.023" radius="0.015"/>
      </geometry>
    </collision>
    <collision group="other">
      <origin rpy="1.57079632679 0 0" xyz="0.011 0 0.003"/>
      <geometry>
        <cylinder length="0.023" radius="0.01"/>
      </geometry>
    </collision>
    <!--   end simple shape approximation of f0 -->
    <!-- begin visual shape approximation of f0 -->
    <visual>
      <origin rpy="0 0 0" xyz="0 0 0.003"/>
      <geometry>
        <cylinder length="0.023" radius="0.015"/>
      </geometry>
      <material name="left_sandia_hand_skin_suntan">
        <color rgba="0.7 0.4 0.2 1.0"/>
      </material>
    </visual>
    <visual>
      <origin rpy="1.57079632679 0 0" xyz="0.011 0 0.003"/>
      <geometry>
        <cylinder length="0.023" radius="0.01"/>
      </geometry>
      <material name="left_sandia_hand_skin_suntan">
        <color rgba="0.7 0.4 0.2 1.0"/>
      </material>
    </visual>
    <!--   end visual shape approximation of f0 -->
    <!-- begin collision mesh of f0 ->
      <collision group="default">
        <origin xyz="0 0 0" rpy="0 0 0"/>
        <geometry>
          <mesh filename="package://sandia_hand_description/meshes/f0.stl"/>
        </geometry>
      </collision>
      <!-   end collision mesh of f0 -->
    <!-- begin visual mesh of f0 ->
      <visual>
        <origin xyz="0 0 0" rpy="0 0 0"/>
        <geometry>
          <mesh filename="package://sandia_hand_description/meshes/f0.stl"/>
        </geometry>
        <material name="${side}_sandia_hand_skin_suntan">
          <color rgba="0.7 0.4 0.2 1.0"/>
        </material>
      </visual>
      <!-   end visual mesh of f0 -->
  </link>
  <link name="left_f0_1">
    <origin rpy="0 0 0" xyz="0 0 0"/>
    <inertial>
      <mass value="0.033"/>
      <!-- F2 -->
      <origin xyz="0 0 0"/>
      <!-- solid cylinder -->
      <inertia ixx="0.00000165" ixy="0" ixz="0" iyy="0.00001316975" iyz="0" izz="0.00001316975"/>
    </inertial>
    <!-- begin simple shape approximation of f1 -->
    <collision group="default">
      <origin rpy="0 1.57079632679 0" xyz="0.024 0 0"/>
      <geometry>
        <cylinder length="0.067" radius="0.01"/>
      </geometry>
    </collision>
    <!--   end simple shape approximation of f1 -->
    <!-- begin visual shape approximation of f1 -->
    <visual>
      <origin rpy="0 1.57079632679 0" xyz="0.024 0 0"/>
      <geometry>
        <cylinder length="0.067" radius="0.01"/>
      </geometry>
      <material name="left_sandia_hand_skin">
        <color rgba="0.835 0.655 0.345 1.0"/>
      </material>
    </visual>
    <!--   end visual shape approximation of f1 -->
    <!-- begin collision mesh of f1 ->
      <collision group="default">
        <origin xyz="0 0 0" rpy="0 0 0"/>
        <geometry>
          <mesh filename="package://sandia_hand_description/meshes/f1.stl"/>
        </geometry>
      </collision>
      <!-   end collision mesh of f1 -->
    <!-- begin visual mesh of f1 ->
      <visual>
        <origin xyz="0 0 0" rpy="0 0 0"/>
        <geometry>
          <mesh filename="package://sandia_hand_description/meshes/f1.stl"/>
        </geometry>
        <material name="${side}_sandia_hand_skin">
          <color rgba="0.835 0.655 0.345 1.0"/>
        </material>
      </visual>
      <!-   end visual mesh of f1 -->
  </link>
  <link name="left_f0_1_accel">
    <origin rpy="0 0 0" xyz="0 0 0"/>
    <inertial>
      <mass value="0.01"/>
      <origin xyz="0 0 0"/>
      <inertia ixx="0.000001" ixy="0" ixz="0" iyy="0.000001" iyz="0" izz="0.000001"/>
    </inertial>
  </link>
  <link name="left_f0_2">
    <origin rpy="0 0 0" xyz="0 0 0"/>
    <inertial>
      <mass value="0.033"/>
      <!-- F3 -->
      <origin xyz="0 0 0"/>
      <!-- solid cylinder -->
      <inertia ixx="0.0000013365" ixy="0" ixz="0" iyy="0.000009603" iyz="0" izz="0.000009603"/>
    </inertial>
    <!-- begin simple shape approximation of f2 -->
    <collision group="default">
      <origin rpy="0 1.57079632679 0" xyz="0.024 0 0"/>
      <geometry>
        <cylinder length="0.057" radius="0.009"/>
      </geometry>
    </collision>
    <collision group="other">
      <origin rpy="0 0 0" xyz="0.052 0 0"/>
      <geometry>
        <sphere radius="0.009"/>
      </geometry>
    </collision>
    <!--   end simple shape approximation of f2 -->
    <!-- begin visual shape approximation of f2 -->
    <visual>
      <origin rpy="0 1.57079632679 0" xyz="0.024 0 0"/>
      <geometry>
        <cylinder length="0.057" radius="0.009"/>
      </geometry>
      <material name="left_sandia_hand_skin_suntan">
        <color rgba="0.8 0.6 0.3 1.0"/>
      </material>
    </visual>
    <visual>
      <origin rpy="0 0 0" xyz="0.052 0 0"/>
      <geometry>
        <sphere radius="0.009"/>
      </geometry>
      <material name="left_sandia_hand_skin_suntan">
        <color rgba="0.8 0.6 0.3 1.0"/>
      </material>
    </visual>
    <!-- begin collision mesh of f2    ->
      <collision group="default">
        <origin xyz="0 0 0" rpy="0 0 0"/>
        <geometry>
          <mesh filename="package://sandia_hand_description/meshes/f2.stl"/>
        </geometry>
      </collision>
      <!-   end collision mesh of f2 -->
    <!-- begin visual mesh of f2    ->
      <visual>
        <origin xyz="0 0 0" rpy="0 0 0"/>
        <geometry>
          <mesh filename="package://sandia_hand_description/meshes/f2.stl"/>
        </geometry>
        <material name="${side}_sandia_hand_skin_suntan">
          <color rgba="0.8 0.6 0.3 1.0"/>
        </material>
      </visual>
      <!-   end visual mesh of f2 -->
  </link>
  <link name="left_f0_2_accel">
    <origin rpy="0 0 0" xyz="0 0 0"/>
    <inertial>
      <mass value="0.01"/>
      <origin xyz="0 0 0"/>
      <inertia ixx="0.000001" ixy="0" ixz="0" iyy="0.000001" iyz="0" izz="0.000001"/>
    </inertial>
  </link>
  <joint name="left_f0_base" type="fixed">
    <parent link="left_palm"/>
    <child link="left_f0_base"/>
    <origin rpy="0 0 -0.3" xyz="0.14 0.0 0"/>
  </joint>
  <joint name="left_f0_j0" type="revolute">
    <axis xyz="0 0 -1"/>
    <parent link="left_f0_base"/>
    <child link="left_f0_0"/>
    <limit effort="11" lower="-1.57079632679" upper="1.57079632679" velocity="1"/>
    <safety_controller k_position="1000.0" k_velocity="1000.0" soft_lower_limit="-11.57079" soft_upper_limit="11.57079"/>
    <dynamics damping="30.0"/>
    <origin rpy="0 0 0" xyz="0 0 0"/>
  </joint>
  <joint name="left_f0_j1" type="revolute">
    <axis xyz="0 0 1"/>
    <parent link="left_f0_0"/>
    <child link="left_f0_1"/>
    <limit effort="28" lower="-1.57079632679" upper="1.57079632679" velocity="1"/>
    <safety_controller k_position="1000.0" k_velocity="1000.0" soft_lower_limit="-11.57079" soft_upper_limit="11.57079"/>
    <dynamics damping="30.0"/>
    <origin rpy="1.57079632679 0 0" xyz="0.028 0 0"/>
  </joint>
  <joint name="left_f0_j2" type="revolute">
    <axis xyz="0 0 1"/>
    <parent link="left_f0_1"/>
    <child link="left_f0_2"/>
    <origin rpy="0 0 0" xyz="0.05 0 0"/>
    <safety_controller k_position="1000.0" k_velocity="1000.0" soft_lower_limit="-11.57079" soft_upper_limit="11.57079"/>
    <dynamics damping="30.0"/>
    <limit effort="28" lower="-1.57079632679" upper="1.57079632679" velocity="1"/>
  </joint>
  <joint name="left_f0_fixed_accel" type="fixed">
    <parent link="left_f0_base"/>
    <child link="left_f0_fixed_accel"/>
    <origin rpy="0 0 0" xyz="-0.05 0 0"/>
  </joint>
  <joint name="left_f0_1_accel" type="fixed">
    <parent link="left_f0_1"/>
    <child link="left_f0_1_accel"/>
    <origin rpy="-1.57079632679 0 0" xyz="0.03 0 0"/>
  </joint>
  <joint name="left_f0_2_accel" type="fixed">
    <parent link="left_f0_2"/>
    <child link="left_f0_2_accel"/>
    <origin rpy="-1.57079632679 0 0" xyz="0.04 0 0"/>
  </joint>
  <transmission name="left_f0_j0" type="pr2_mechanism_model/SimpleTransmission">
    <joint name="left_f0_j0"/>
    <actuator name="left_f0_j0_motor"/>
    <mechanicalReduction>1</mechanicalReduction>
  </transmission>
  <transmission name="left_f0_j1" type="pr2_mechanism_model/SimpleTransmission">
    <joint name="left_f0_j1"/>
    <actuator name="left_f0_j1_motor"/>
    <mechanicalReduction>1</mechanicalReduction>
  </transmission>
  <transmission name="left_f0_j2" type="pr2_mechanism_model/SimpleTransmission">
    <joint name="left_f0_j2"/>
    <actuator name="left_f0_j2_motor"/>
    <mechanicalReduction>1</mechanicalReduction>
  </transmission>
  <gazebo reference="left_f0_base">
    <mu1>0.9</mu1>
    <mu2>0.9</mu2>
    <kp>10000.0</kp>
    <kd>1.0</kd>
    <maxVel>0.1</maxVel>
    <minDepth>0.0</minDepth>
  </gazebo>
  <gazebo reference="left_f0_0">
    <mu1>0.9</mu1>
    <mu2>0.9</mu2>
    <kp>10000.0</kp>
    <kd>1.0</kd>
    <maxVel>1.0</maxVel>
    <minDepth>0.0</minDepth>
  </gazebo>
  <gazebo reference="left_f0_1">
    <mu1>0.9</mu1>
    <mu2>0.9</mu2>
    <kp>10000.0</kp>
    <kd>1.0</kd>
    <maxVel>0.1</maxVel>
    <minDepth>0.0</minDepth>
  </gazebo>
  <gazebo reference="left_f0_2">
    <mu1>0.9</mu1>
    <mu2>0.9</mu2>
    <kp>10000.0</kp>
    <kd>1.0</kd>
    <maxVel>0.1</maxVel>
    <minDepth>0.0</minDepth>
  </gazebo>
  <gazebo reference="left_f0_j0">
    <cfmDamping>1</cfmDamping>
  </gazebo>
  <gazebo reference="left_f0_j1">
    <cfmDamping>1</cfmDamping>
  </gazebo>
  <gazebo reference="left_f0_j2">
    <cfmDamping>1</cfmDamping>
  </gazebo>
  <link name="left_f1_base">
    <origin rpy="0 0 0" xyz="0 0 0"/>
    <inertial>
      <!-- total mass is 2.303 kg, palm is about 1.303 kg, distribute the rest into _base -->
      <mass value="0.250"/>
      <!-- (2.303 - 1.303) / 4 -->
      <origin xyz="0 0 0"/>
      <!-- model as sphere with radius of 1cm -->
      <inertia ixx="0.00001" ixy="0" ixz="0" iyy="0.00001" iyz="0" izz="0.00001"/>
    </inertial>
  </link>
  <link name="left_f1_fixed_accel">
    <origin rpy="0 0 0" xyz="0 0 0"/>
    <inertial>
      <mass value="0.01"/>
      <origin xyz="0 0 0"/>
      <inertia ixx="0.000001" ixy="0" ixz="0" iyy="0.000001" iyz="0" izz="0.000001"/>
    </inertial>
  </link>
  <link name="left_f1_0">
    <origin rpy="0 0 0" xyz="0 0 0"/>
    <inertial>
      <mass value="0.106"/>
      <!-- F1 -->
      <origin xyz="0 0 0"/>
      <!-- solid cylinder -->
      <inertia ixx="0.00011505" ixy="0" ixz="0" iyy="0.00011505" iyz="0" izz="0.000011925"/>
    </inertial>
    <!-- begin simple shape approximation of f0 -->
    <collision group="default">
      <origin rpy="0 0 0" xyz="0 0 0.003"/>
      <geometry>
        <cylinder length="0.023" radius="0.015"/>
      </geometry>
    </collision>
    <collision group="other">
      <origin rpy="1.57079632679 0 0" xyz="0.011 0 0.003"/>
      <geometry>
        <cylinder length="0.023" radius="0.01"/>
      </geometry>
    </collision>
    <!--   end simple shape approximation of f0 -->
    <!-- begin visual shape approximation of f0 -->
    <visual>
      <origin rpy="0 0 0" xyz="0 0 0.003"/>
      <geometry>
        <cylinder length="0.023" radius="0.015"/>
      </geometry>
      <material name="left_sandia_hand_skin_suntan">
        <color rgba="0.7 0.4 0.2 1.0"/>
      </material>
    </visual>
    <visual>
      <origin rpy="1.57079632679 0 0" xyz="0.011 0 0.003"/>
      <geometry>
        <cylinder length="0.023" radius="0.01"/>
      </geometry>
      <material name="left_sandia_hand_skin_suntan">
        <color rgba="0.7 0.4 0.2 1.0"/>
      </material>
    </visual>
    <!--   end visual shape approximation of f0 -->
    <!-- begin collision mesh of f0 ->
      <collision group="default">
        <origin xyz="0 0 0" rpy="0 0 0"/>
        <geometry>
          <mesh filename="package://sandia_hand_description/meshes/f0.stl"/>
        </geometry>
      </collision>
      <!-   end collision mesh of f0 -->
    <!-- begin visual mesh of f0 ->
      <visual>
        <origin xyz="0 0 0" rpy="0 0 0"/>
        <geometry>
          <mesh filename="package://sandia_hand_description/meshes/f0.stl"/>
        </geometry>
        <material name="${side}_sandia_hand_skin_suntan">
          <color rgba="0.7 0.4 0.2 1.0"/>
        </material>
      </visual>
      <!-   end visual mesh of f0 -->
  </link>
  <link name="left_f1_1">
    <origin rpy="0 0 0" xyz="0 0 0"/>
    <inertial>
      <mass value="0.033"/>
      <!-- F2 -->
      <origin xyz="0 0 0"/>
      <!-- solid cylinder -->
      <inertia ixx="0.00000165" ixy="0" ixz="0" iyy="0.00001316975" iyz="0" izz="0.00001316975"/>
    </inertial>
    <!-- begin simple shape approximation of f1 -->
    <collision group="default">
      <origin rpy="0 1.57079632679 0" xyz="0.024 0 0"/>
      <geometry>
        <cylinder length="0.067" radius="0.01"/>
      </geometry>
    </collision>
    <!--   end simple shape approximation of f1 -->
    <!-- begin visual shape approximation of f1 -->
    <visual>
      <origin rpy="0 1.57079632679 0" xyz="0.024 0 0"/>
      <geometry>
        <cylinder length="0.067" radius="0.01"/>
      </geometry>
      <material name="left_sandia_hand_skin">
        <color rgba="0.835 0.655 0.345 1.0"/>
      </material>
    </visual>
    <!--   end visual shape approximation of f1 -->
    <!-- begin collision mesh of f1 ->
      <collision group="default">
        <origin xyz="0 0 0" rpy="0 0 0"/>
        <geometry>
          <mesh filename="package://sandia_hand_description/meshes/f1.stl"/>
        </geometry>
      </collision>
      <!-   end collision mesh of f1 -->
    <!-- begin visual mesh of f1 ->
      <visual>
        <origin xyz="0 0 0" rpy="0 0 0"/>
        <geometry>
          <mesh filename="package://sandia_hand_description/meshes/f1.stl"/>
        </geometry>
        <material name="${side}_sandia_hand_skin">
          <color rgba="0.835 0.655 0.345 1.0"/>
        </material>
      </visual>
      <!-   end visual mesh of f1 -->
  </link>
  <link name="left_f1_1_accel">
    <origin rpy="0 0 0" xyz="0 0 0"/>
    <inertial>
      <mass value="0.01"/>
      <origin xyz="0 0 0"/>
      <inertia ixx="0.000001" ixy="0" ixz="0" iyy="0.000001" iyz="0" izz="0.000001"/>
    </inertial>
  </link>
  <link name="left_f1_2">
    <origin rpy="0 0 0" xyz="0 0 0"/>
    <inertial>
      <mass value="0.033"/>
      <!-- F3 -->
      <origin xyz="0 0 0"/>
      <!-- solid cylinder -->
      <inertia ixx="0.0000013365" ixy="0" ixz="0" iyy="0.000009603" iyz="0" izz="0.000009603"/>
    </inertial>
    <!-- begin simple shape approximation of f2 -->
    <collision group="default">
      <origin rpy="0 1.57079632679 0" xyz="0.024 0 0"/>
      <geometry>
        <cylinder length="0.057" radius="0.009"/>
      </geometry>
    </collision>
    <collision group="other">
      <origin rpy="0 0 0" xyz="0.052 0 0"/>
      <geometry>
        <sphere radius="0.009"/>
      </geometry>
    </collision>
    <!--   end simple shape approximation of f2 -->
    <!-- begin visual shape approximation of f2 -->
    <visual>
      <origin rpy="0 1.57079632679 0" xyz="0.024 0 0"/>
      <geometry>
        <cylinder length="0.057" radius="0.009"/>
      </geometry>
      <material name="left_sandia_hand_skin_suntan">
        <color rgba="0.8 0.6 0.3 1.0"/>
      </material>
    </visual>
    <visual>
      <origin rpy="0 0 0" xyz="0.052 0 0"/>
      <geometry>
        <sphere radius="0.009"/>
      </geometry>
      <material name="left_sandia_hand_skin_suntan">
        <color rgba="0.8 0.6 0.3 1.0"/>
      </material>
    </visual>
    <!-- begin collision mesh of f2    ->
      <collision group="default">
        <origin xyz="0 0 0" rpy="0 0 0"/>
        <geometry>
          <mesh filename="package://sandia_hand_description/meshes/f2.stl"/>
        </geometry>
      </collision>
      <!-   end collision mesh of f2 -->
    <!-- begin visual mesh of f2    ->
      <visual>
        <origin xyz="0 0 0" rpy="0 0 0"/>
        <geometry>
          <mesh filename="package://sandia_hand_description/meshes/f2.stl"/>
        </geometry>
        <material name="${side}_sandia_hand_skin_suntan">
          <color rgba="0.8 0.6 0.3 1.0"/>
        </material>
      </visual>
      <!-   end visual mesh of f2 -->
  </link>
  <link name="left_f1_2_accel">
    <origin rpy="0 0 0" xyz="0 0 0"/>
    <inertial>
      <mass value="0.01"/>
      <origin xyz="0 0 0"/>
      <inertia ixx="0.000001" ixy="0" ixz="0" iyy="0.000001" iyz="0" izz="0.000001"/>
    </inertial>
  </link>
  <joint name="left_f1_base" type="fixed">
    <parent link="left_palm"/>
    <child link="left_f1_base"/>
    <origin rpy="0 0 -0.3" xyz="0.115 -0.03122 0"/>
  </joint>
  <joint name="left_f1_j0" type="revolute">
    <axis xyz="0 0 -1"/>
    <parent link="left_f1_base"/>
    <child link="left_f1_0"/>
    <limit effort="11" lower="-1.57079632679" upper="1.57079632679" velocity="1"/>
    <safety_controller k_position="1000.0" k_velocity="1000.0" soft_lower_limit="-11.57079" soft_upper_limit="11.57079"/>
    <dynamics damping="30.0"/>
    <origin rpy="0 0 0" xyz="0 0 0"/>
  </joint>
  <joint name="left_f1_j1" type="revolute">
    <axis xyz="0 0 1"/>
    <parent link="left_f1_0"/>
    <child link="left_f1_1"/>
    <limit effort="28" lower="-1.57079632679" upper="1.57079632679" velocity="1"/>
    <safety_controller k_position="1000.0" k_velocity="1000.0" soft_lower_limit="-11.57079" soft_upper_limit="11.57079"/>
    <dynamics damping="30.0"/>
    <origin rpy="1.57079632679 0 0" xyz="0.028 0 0"/>
  </joint>
  <joint name="left_f1_j2" type="revolute">
    <axis xyz="0 0 1"/>
    <parent link="left_f1_1"/>
    <child link="left_f1_2"/>
    <origin rpy="0 0 0" xyz="0.05 0 0"/>
    <safety_controller k_position="1000.0" k_velocity="1000.0" soft_lower_limit="-11.57079" soft_upper_limit="11.57079"/>
    <dynamics damping="30.0"/>
    <limit effort="28" lower="-1.57079632679" upper="1.57079632679" velocity="1"/>
  </joint>
  <joint name="left_f1_fixed_accel" type="fixed">
    <parent link="left_f1_base"/>
    <child link="left_f1_fixed_accel"/>
    <origin rpy="0 0 0" xyz="-0.05 0 0"/>
  </joint>
  <joint name="left_f1_1_accel" type="fixed">
    <parent link="left_f1_1"/>
    <child link="left_f1_1_accel"/>
    <origin rpy="-1.57079632679 0 0" xyz="0.03 0 0"/>
  </joint>
  <joint name="left_f1_2_accel" type="fixed">
    <parent link="left_f1_2"/>
    <child link="left_f1_2_accel"/>
    <origin rpy="-1.57079632679 0 0" xyz="0.04 0 0"/>
  </joint>
  <transmission name="left_f1_j0" type="pr2_mechanism_model/SimpleTransmission">
    <joint name="left_f1_j0"/>
    <actuator name="left_f1_j0_motor"/>
    <mechanicalReduction>1</mechanicalReduction>
  </transmission>
  <transmission name="left_f1_j1" type="pr2_mechanism_model/SimpleTransmission">
    <joint name="left_f1_j1"/>
    <actuator name="left_f1_j1_motor"/>
    <mechanicalReduction>1</mechanicalReduction>
  </transmission>
  <transmission name="left_f1_j2" type="pr2_mechanism_model/SimpleTransmission">
    <joint name="left_f1_j2"/>
    <actuator name="left_f1_j2_motor"/>
    <mechanicalReduction>1</mechanicalReduction>
  </transmission>
  <gazebo reference="left_f1_base">
    <mu1>0.9</mu1>
    <mu2>0.9</mu2>
    <kp>10000.0</kp>
    <kd>1.0</kd>
    <maxVel>0.1</maxVel>
    <minDepth>0.0</minDepth>
  </gazebo>
  <gazebo reference="left_f1_0">
    <mu1>0.9</mu1>
    <mu2>0.9</mu2>
    <kp>10000.0</kp>
    <kd>1.0</kd>
    <maxVel>1.0</maxVel>
    <minDepth>0.0</minDepth>
  </gazebo>
  <gazebo reference="left_f1_1">
    <mu1>0.9</mu1>
    <mu2>0.9</mu2>
    <kp>10000.0</kp>
    <kd>1.0</kd>
    <maxVel>0.1</maxVel>
    <minDepth>0.0</minDepth>
  </gazebo>
  <gazebo reference="left_f1_2">
    <mu1>0.9</mu1>
    <mu2>0.9</mu2>
    <kp>10000.0</kp>
    <kd>1.0</kd>
    <maxVel>0.1</maxVel>
    <minDepth>0.0</minDepth>
  </gazebo>
  <gazebo reference="left_f1_j0">
    <cfmDamping>1</cfmDamping>
  </gazebo>
  <gazebo reference="left_f1_j1">
    <cfmDamping>1</cfmDamping>
  </gazebo>
  <gazebo reference="left_f1_j2">
    <cfmDamping>1</cfmDamping>
  </gazebo>
  <link name="left_f2_base">
    <origin rpy="0 0 0" xyz="0 0 0"/>
    <inertial>
      <!-- total mass is 2.303 kg, palm is about 1.303 kg, distribute the rest into _base -->
      <mass value="0.250"/>
      <!-- (2.303 - 1.303) / 4 -->
      <origin xyz="0 0 0"/>
      <!-- model as sphere with radius of 1cm -->
      <inertia ixx="0.00001" ixy="0" ixz="0" iyy="0.00001" iyz="0" izz="0.00001"/>
    </inertial>
  </link>
  <link name="left_f2_fixed_accel">
    <origin rpy="0 0 0" xyz="0 0 0"/>
    <inertial>
      <mass value="0.01"/>
      <origin xyz="0 0 0"/>
      <inertia ixx="0.000001" ixy="0" ixz="0" iyy="0.000001" iyz="0" izz="0.000001"/>
    </inertial>
  </link>
  <link name="left_f2_0">
    <origin rpy="0 0 0" xyz="0 0 0"/>
    <inertial>
      <mass value="0.106"/>
      <!-- F1 -->
      <origin xyz="0 0 0"/>
      <!-- solid cylinder -->
      <inertia ixx="0.00011505" ixy="0" ixz="0" iyy="0.00011505" iyz="0" izz="0.000011925"/>
    </inertial>
    <!-- begin simple shape approximation of f0 -->
    <collision group="default">
      <origin rpy="0 0 0" xyz="0 0 0.003"/>
      <geometry>
        <cylinder length="0.023" radius="0.015"/>
      </geometry>
    </collision>
    <collision group="other">
      <origin rpy="1.57079632679 0 0" xyz="0.011 0 0.003"/>
      <geometry>
        <cylinder length="0.023" radius="0.01"/>
      </geometry>
    </collision>
    <!--   end simple shape approximation of f0 -->
    <!-- begin visual shape approximation of f0 -->
    <visual>
      <origin rpy="0 0 0" xyz="0 0 0.003"/>
      <geometry>
        <cylinder length="0.023" radius="0.015"/>
      </geometry>
      <material name="left_sandia_hand_skin_suntan">
        <color rgba="0.7 0.4 0.2 1.0"/>
      </material>
    </visual>
    <visual>
      <origin rpy="1.57079632679 0 0" xyz="0.011 0 0.003"/>
      <geometry>
        <cylinder length="0.023" radius="0.01"/>
      </geometry>
      <material name="left_sandia_hand_skin_suntan">
        <color rgba="0.7 0.4 0.2 1.0"/>
      </material>
    </visual>
    <!--   end visual shape approximation of f0 -->
    <!-- begin collision mesh of f0 ->
      <collision group="default">
        <origin xyz="0 0 0" rpy="0 0 0"/>
        <geometry>
          <mesh filename="package://sandia_hand_description/meshes/f0.stl"/>
        </geometry>
      </collision>
      <!-   end collision mesh of f0 -->
    <!-- begin visual mesh of f0 ->
      <visual>
        <origin xyz="0 0 0" rpy="0 0 0"/>
        <geometry>
          <mesh filename="package://sandia_hand_description/meshes/f0.stl"/>
        </geometry>
        <material name="${side}_sandia_hand_skin_suntan">
          <color rgba="0.7 0.4 0.2 1.0"/>
        </material>
      </visual>
      <!-   end visual mesh of f0 -->
  </link>
  <link name="left_f2_1">
    <origin rpy="0 0 0" xyz="0 0 0"/>
    <inertial>
      <mass value="0.033"/>
      <!-- F2 -->
      <origin xyz="0 0 0"/>
      <!-- solid cylinder -->
      <inertia ixx="0.00000165" ixy="0" ixz="0" iyy="0.00001316975" iyz="0" izz="0.00001316975"/>
    </inertial>
    <!-- begin simple shape approximation of f1 -->
    <collision group="default">
      <origin rpy="0 1.57079632679 0" xyz="0.024 0 0"/>
      <geometry>
        <cylinder length="0.067" radius="0.01"/>
      </geometry>
    </collision>
    <!--   end simple shape approximation of f1 -->
    <!-- begin visual shape approximation of f1 -->
    <visual>
      <origin rpy="0 1.57079632679 0" xyz="0.024 0 0"/>
      <geometry>
        <cylinder length="0.067" radius="0.01"/>
      </geometry>
      <material name="left_sandia_hand_skin">
        <color rgba="0.835 0.655 0.345 1.0"/>
      </material>
    </visual>
    <!--   end visual shape approximation of f1 -->
    <!-- begin collision mesh of f1 ->
      <collision group="default">
        <origin xyz="0 0 0" rpy="0 0 0"/>
        <geometry>
          <mesh filename="package://sandia_hand_description/meshes/f1.stl"/>
        </geometry>
      </collision>
      <!-   end collision mesh of f1 -->
    <!-- begin visual mesh of f1 ->
      <visual>
        <origin xyz="0 0 0" rpy="0 0 0"/>
        <geometry>
          <mesh filename="package://sandia_hand_description/meshes/f1.stl"/>
        </geometry>
        <material name="${side}_sandia_hand_skin">
          <color rgba="0.835 0.655 0.345 1.0"/>
        </material>
      </visual>
      <!-   end visual mesh of f1 -->
  </link>
  <link name="left_f2_1_accel">
    <origin rpy="0 0 0" xyz="0 0 0"/>
    <inertial>
      <mass value="0.01"/>
      <origin xyz="0 0 0"/>
      <inertia ixx="0.000001" ixy="0" ixz="0" iyy="0.000001" iyz="0" izz="0.000001"/>
    </inertial>
  </link>
  <link name="left_f2_2">
    <origin rpy="0 0 0" xyz="0 0 0"/>
    <inertial>
      <mass value="0.033"/>
      <!-- F3 -->
      <origin xyz="0 0 0"/>
      <!-- solid cylinder -->
      <inertia ixx="0.0000013365" ixy="0" ixz="0" iyy="0.000009603" iyz="0" izz="0.000009603"/>
    </inertial>
    <!-- begin simple shape approximation of f2 -->
    <collision group="default">
      <origin rpy="0 1.57079632679 0" xyz="0.024 0 0"/>
      <geometry>
        <cylinder length="0.057" radius="0.009"/>
      </geometry>
    </collision>
    <collision group="other">
      <origin rpy="0 0 0" xyz="0.052 0 0"/>
      <geometry>
        <sphere radius="0.009"/>
      </geometry>
    </collision>
    <!--   end simple shape approximation of f2 -->
    <!-- begin visual shape approximation of f2 -->
    <visual>
      <origin rpy="0 1.57079632679 0" xyz="0.024 0 0"/>
      <geometry>
        <cylinder length="0.057" radius="0.009"/>
      </geometry>
      <material name="left_sandia_hand_skin_suntan">
        <color rgba="0.8 0.6 0.3 1.0"/>
      </material>
    </visual>
    <visual>
      <origin rpy="0 0 0" xyz="0.052 0 0"/>
      <geometry>
        <sphere radius="0.009"/>
      </geometry>
      <material name="left_sandia_hand_skin_suntan">
        <color rgba="0.8 0.6 0.3 1.0"/>
      </material>
    </visual>
    <!-- begin collision mesh of f2    ->
      <collision group="default">
        <origin xyz="0 0 0" rpy="0 0 0"/>
        <geometry>
          <mesh filename="package://sandia_hand_description/meshes/f2.stl"/>
        </geometry>
      </collision>
      <!-   end collision mesh of f2 -->
    <!-- begin visual mesh of f2    ->
      <visual>
        <origin xyz="0 0 0" rpy="0 0 0"/>
        <geometry>
          <mesh filename="package://sandia_hand_description/meshes/f2.stl"/>
        </geometry>
        <material name="${side}_sandia_hand_skin_suntan">
          <color rgba="0.8 0.6 0.3 1.0"/>
        </material>
      </visual>
      <!-   end visual mesh of f2 -->
  </link>
  <link name="left_f2_2_accel">
    <origin rpy="0 0 0" xyz="0 0 0"/>
    <inertial>
      <mass value="0.01"/>
      <origin xyz="0 0 0"/>
      <inertia ixx="0.000001" ixy="0" ixz="0" iyy="0.000001" iyz="0" izz="0.000001"/>
    </inertial>
  </link>
  <joint name="left_f2_base" type="fixed">
    <parent link="left_palm"/>
    <child link="left_f2_base"/>
    <origin rpy="0 0 -0.3" xyz="0.09 -0.06245 0"/>
  </joint>
  <joint name="left_f2_j0" type="revolute">
    <axis xyz="0 0 -1"/>
    <parent link="left_f2_base"/>
    <child link="left_f2_0"/>
    <limit effort="11" lower="-1.57079632679" upper="1.57079632679" velocity="1"/>
    <safety_controller k_position="1000.0" k_velocity="1000.0" soft_lower_limit="-11.57079" soft_upper_limit="11.57079"/>
    <dynamics damping="30.0"/>
    <origin rpy="0 0 0" xyz="0 0 0"/>
  </joint>
  <joint name="left_f2_j1" type="revolute">
    <axis xyz="0 0 1"/>
    <parent link="left_f2_0"/>
    <child link="left_f2_1"/>
    <limit effort="28" lower="-1.57079632679" upper="1.57079632679" velocity="1"/>
    <safety_controller k_position="1000.0" k_velocity="1000.0" soft_lower_limit="-11.57079" soft_upper_limit="11.57079"/>
    <dynamics damping="30.0"/>
    <origin rpy="1.57079632679 0 0" xyz="0.028 0 0"/>
  </joint>
  <joint name="left_f2_j2" type="revolute">
    <axis xyz="0 0 1"/>
    <parent link="left_f2_1"/>
    <child link="left_f2_2"/>
    <origin rpy="0 0 0" xyz="0.05 0 0"/>
    <safety_controller k_position="1000.0" k_velocity="1000.0" soft_lower_limit="-11.57079" soft_upper_limit="11.57079"/>
    <dynamics damping="30.0"/>
    <limit effort="28" lower="-1.57079632679" upper="1.57079632679" velocity="1"/>
  </joint>
  <joint name="left_f2_fixed_accel" type="fixed">
    <parent link="left_f2_base"/>
    <child link="left_f2_fixed_accel"/>
    <origin rpy="0 0 0" xyz="-0.05 0 0"/>
  </joint>
  <joint name="left_f2_1_accel" type="fixed">
    <parent link="left_f2_1"/>
    <child link="left_f2_1_accel"/>
    <origin rpy="-1.57079632679 0 0" xyz="0.03 0 0"/>
  </joint>
  <joint name="left_f2_2_accel" type="fixed">
    <parent link="left_f2_2"/>
    <child link="left_f2_2_accel"/>
    <origin rpy="-1.57079632679 0 0" xyz="0.04 0 0"/>
  </joint>
  <transmission name="left_f2_j0" type="pr2_mechanism_model/SimpleTransmission">
    <joint name="left_f2_j0"/>
    <actuator name="left_f2_j0_motor"/>
    <mechanicalReduction>1</mechanicalReduction>
  </transmission>
  <transmission name="left_f2_j1" type="pr2_mechanism_model/SimpleTransmission">
    <joint name="left_f2_j1"/>
    <actuator name="left_f2_j1_motor"/>
    <mechanicalReduction>1</mechanicalReduction>
  </transmission>
  <transmission name="left_f2_j2" type="pr2_mechanism_model/SimpleTransmission">
    <joint name="left_f2_j2"/>
    <actuator name="left_f2_j2_motor"/>
    <mechanicalReduction>1</mechanicalReduction>
  </transmission>
  <gazebo reference="left_f2_base">
    <mu1>0.9</mu1>
    <mu2>0.9</mu2>
    <kp>10000.0</kp>
    <kd>1.0</kd>
    <maxVel>0.1</maxVel>
    <minDepth>0.0</minDepth>
  </gazebo>
  <gazebo reference="left_f2_0">
    <mu1>0.9</mu1>
    <mu2>0.9</mu2>
    <kp>10000.0</kp>
    <kd>1.0</kd>
    <maxVel>1.0</maxVel>
    <minDepth>0.0</minDepth>
  </gazebo>
  <gazebo reference="left_f2_1">
    <mu1>0.9</mu1>
    <mu2>0.9</mu2>
    <kp>10000.0</kp>
    <kd>1.0</kd>
    <maxVel>0.1</maxVel>
    <minDepth>0.0</minDepth>
  </gazebo>
  <gazebo reference="left_f2_2">
    <mu1>0.9</mu1>
    <mu2>0.9</mu2>
    <kp>10000.0</kp>
    <kd>1.0</kd>
    <maxVel>0.1</maxVel>
    <minDepth>0.0</minDepth>
  </gazebo>
  <gazebo reference="left_f2_j0">
    <cfmDamping>1</cfmDamping>
  </gazebo>
  <gazebo reference="left_f2_j1">
    <cfmDamping>1</cfmDamping>
  </gazebo>
  <gazebo reference="left_f2_j2">
    <cfmDamping>1</cfmDamping>
  </gazebo>
  <link name="left_f3_base">
    <origin rpy="0 0 0" xyz="0 0 0"/>
    <inertial>
      <!-- total mass is 2.303 kg, palm is about 1.303 kg, distribute the rest into _base -->
      <mass value="0.250"/>
      <!-- (2.303 - 1.303) / 4 -->
      <origin xyz="0 0 0"/>
      <!-- model as sphere with radius of 1cm -->
      <inertia ixx="0.00001" ixy="0" ixz="0" iyy="0.00001" iyz="0" izz="0.00001"/>
    </inertial>
  </link>
  <link name="left_f3_fixed_accel">
    <origin rpy="0 0 0" xyz="0 0 0"/>
    <inertial>
      <mass value="0.01"/>
      <origin xyz="0 0 0"/>
      <inertia ixx="0.000001" ixy="0" ixz="0" iyy="0.000001" iyz="0" izz="0.000001"/>
    </inertial>
  </link>
  <link name="left_f3_0">
    <origin rpy="0 0 0" xyz="0 0 0"/>
    <inertial>
      <mass value="0.106"/>
      <!-- F1 -->
      <origin xyz="0 0 0"/>
      <!-- solid cylinder -->
      <inertia ixx="0.00011505" ixy="0" ixz="0" iyy="0.00011505" iyz="0" izz="0.000011925"/>
    </inertial>
    <!-- begin simple shape approximation of f0 -->
    <collision group="default">
      <origin rpy="0 0 0" xyz="0 0 0.003"/>
      <geometry>
        <cylinder length="0.023" radius="0.015"/>
      </geometry>
    </collision>
    <collision group="other">
      <origin rpy="1.57079632679 0 0" xyz="0.011 0 0.003"/>
      <geometry>
        <cylinder length="0.023" radius="0.01"/>
      </geometry>
    </collision>
    <!--   end simple shape approximation of f0 -->
    <!-- begin visual shape approximation of f0 -->
    <visual>
      <origin rpy="0 0 0" xyz="0 0 0.003"/>
      <geometry>
        <cylinder length="0.023" radius="0.015"/>
      </geometry>
      <material name="left_sandia_hand_skin_suntan">
        <color rgba="0.7 0.4 0.2 1.0"/>
      </material>
    </visual>
    <visual>
      <origin rpy="1.57079632679 0 0" xyz="0.011 0 0.003"/>
      <geometry>
        <cylinder length="0.023" radius="0.01"/>
      </geometry>
      <material name="left_sandia_hand_skin_suntan">
        <color rgba="0.7 0.4 0.2 1.0"/>
      </material>
    </visual>
    <!--   end visual shape approximation of f0 -->
    <!-- begin collision mesh of f0 ->
      <collision group="default">
        <origin xyz="0 0 0" rpy="0 0 0"/>
        <geometry>
          <mesh filename="package://sandia_hand_description/meshes/f0.stl"/>
        </geometry>
      </collision>
      <!-   end collision mesh of f0 -->
    <!-- begin visual mesh of f0 ->
      <visual>
        <origin xyz="0 0 0" rpy="0 0 0"/>
        <geometry>
          <mesh filename="package://sandia_hand_description/meshes/f0.stl"/>
        </geometry>
        <material name="${side}_sandia_hand_skin_suntan">
          <color rgba="0.7 0.4 0.2 1.0"/>
        </material>
      </visual>
      <!-   end visual mesh of f0 -->
  </link>
  <link name="left_f3_1">
    <origin rpy="0 0 0" xyz="0 0 0"/>
    <inertial>
      <mass value="0.033"/>
      <!-- F2 -->
      <origin xyz="0 0 0"/>
      <!-- solid cylinder -->
      <inertia ixx="0.00000165" ixy="0" ixz="0" iyy="0.00001316975" iyz="0" izz="0.00001316975"/>
    </inertial>
    <!-- begin simple shape approximation of f1 -->
    <collision group="default">
      <origin rpy="0 1.57079632679 0" xyz="0.024 0 0"/>
      <geometry>
        <cylinder length="0.067" radius="0.01"/>
      </geometry>
    </collision>
    <!--   end simple shape approximation of f1 -->
    <!-- begin visual shape approximation of f1 -->
    <visual>
      <origin rpy="0 1.57079632679 0" xyz="0.024 0 0"/>
      <geometry>
        <cylinder length="0.067" radius="0.01"/>
      </geometry>
      <material name="left_sandia_hand_skin">
        <color rgba="0.835 0.655 0.345 1.0"/>
      </material>
    </visual>
    <!--   end visual shape approximation of f1 -->
    <!-- begin collision mesh of f1 ->
      <collision group="default">
        <origin xyz="0 0 0" rpy="0 0 0"/>
        <geometry>
          <mesh filename="package://sandia_hand_description/meshes/f1.stl"/>
        </geometry>
      </collision>
      <!-   end collision mesh of f1 -->
    <!-- begin visual mesh of f1 ->
      <visual>
        <origin xyz="0 0 0" rpy="0 0 0"/>
        <geometry>
          <mesh filename="package://sandia_hand_description/meshes/f1.stl"/>
        </geometry>
        <material name="${side}_sandia_hand_skin">
          <color rgba="0.835 0.655 0.345 1.0"/>
        </material>
      </visual>
      <!-   end visual mesh of f1 -->
  </link>
  <link name="left_f3_1_accel">
    <origin rpy="0 0 0" xyz="0 0 0"/>
    <inertial>
      <mass value="0.01"/>
      <origin xyz="0 0 0"/>
      <inertia ixx="0.000001" ixy="0" ixz="0" iyy="0.000001" iyz="0" izz="0.000001"/>
    </inertial>
  </link>
  <link name="left_f3_2">
    <origin rpy="0 0 0" xyz="0 0 0"/>
    <inertial>
      <mass value="0.033"/>
      <!-- F3 -->
      <origin xyz="0 0 0"/>
      <!-- solid cylinder -->
      <inertia ixx="0.0000013365" ixy="0" ixz="0" iyy="0.000009603" iyz="0" izz="0.000009603"/>
    </inertial>
    <!-- begin simple shape approximation of f2 -->
    <collision group="default">
      <origin rpy="0 1.57079632679 0" xyz="0.024 0 0"/>
      <geometry>
        <cylinder length="0.057" radius="0.009"/>
      </geometry>
    </collision>
    <collision group="other">
      <origin rpy="0 0 0" xyz="0.052 0 0"/>
      <geometry>
        <sphere radius="0.009"/>
      </geometry>
    </collision>
    <!--   end simple shape approximation of f2 -->
    <!-- begin visual shape approximation of f2 -->
    <visual>
      <origin rpy="0 1.57079632679 0" xyz="0.024 0 0"/>
      <geometry>
        <cylinder length="0.057" radius="0.009"/>
      </geometry>
      <material name="left_sandia_hand_skin_suntan">
        <color rgba="0.8 0.6 0.3 1.0"/>
      </material>
    </visual>
    <visual>
      <origin rpy="0 0 0" xyz="0.052 0 0"/>
      <geometry>
        <sphere radius="0.009"/>
      </geometry>
      <material name="left_sandia_hand_skin_suntan">
        <color rgba="0.8 0.6 0.3 1.0"/>
      </material>
    </visual>
    <!-- begin collision mesh of f2    ->
      <collision group="default">
        <origin xyz="0 0 0" rpy="0 0 0"/>
        <geometry>
          <mesh filename="package://sandia_hand_description/meshes/f2.stl"/>
        </geometry>
      </collision>
      <!-   end collision mesh of f2 -->
    <!-- begin visual mesh of f2    ->
      <visual>
        <origin xyz="0 0 0" rpy="0 0 0"/>
        <geometry>
          <mesh filename="package://sandia_hand_description/meshes/f2.stl"/>
        </geometry>
        <material name="${side}_sandia_hand_skin_suntan">
          <color rgba="0.8 0.6 0.3 1.0"/>
        </material>
      </visual>
      <!-   end visual mesh of f2 -->
  </link>
  <link name="left_f3_2_accel">
    <origin rpy="0 0 0" xyz="0 0 0"/>
    <inertial>
      <mass value="0.01"/>
      <origin xyz="0 0 0"/>
      <inertia ixx="0.000001" ixy="0" ixz="0" iyy="0.000001" iyz="0" izz="0.000001"/>
    </inertial>
  </link>
  <joint name="left_f3_base" type="fixed">
    <parent link="left_palm"/>
    <child link="left_f3_base"/>
    <origin rpy="0 -1.57079632679 2.3562" xyz="0.03995 0.04383 0.014"/>
  </joint>
  <joint name="left_f3_j0" type="revolute">
    <axis xyz="0 0 -1"/>
    <parent link="left_f3_base"/>
    <child link="left_f3_0"/>
    <limit effort="11" lower="-1.57079632679" upper="1.57079632679" velocity="1"/>
    <safety_controller k_position="1000.0" k_velocity="1000.0" soft_lower_limit="-11.57079" soft_upper_limit="11.57079"/>
    <dynamics damping="30.0"/>
    <origin rpy="0 0 0" xyz="0 0 0"/>
  </joint>
  <joint name="left_f3_j1" type="revolute">
    <axis xyz="0 0 1"/>
    <parent link="left_f3_0"/>
    <child link="left_f3_1"/>
    <limit effort="28" lower="-1.57079632679" upper="1.57079632679" velocity="1"/>
    <safety_controller k_position="1000.0" k_velocity="1000.0" soft_lower_limit="-11.57079" soft_upper_limit="11.57079"/>
    <dynamics damping="30.0"/>
    <origin rpy="1.57079632679 0 0" xyz="0.028 0 0"/>
  </joint>
  <joint name="left_f3_j2" type="revolute">
    <axis xyz="0 0 1"/>
    <parent link="left_f3_1"/>
    <child link="left_f3_2"/>
    <origin rpy="0 0 0" xyz="0.05 0 0"/>
    <safety_controller k_position="1000.0" k_velocity="1000.0" soft_lower_limit="-11.57079" soft_upper_limit="11.57079"/>
    <dynamics damping="30.0"/>
    <limit effort="28" lower="-1.57079632679" upper="1.57079632679" velocity="1"/>
  </joint>
  <joint name="left_f3_fixed_accel" type="fixed">
    <parent link="left_f3_base"/>
    <child link="left_f3_fixed_accel"/>
    <origin rpy="0 0 0" xyz="-0.05 0 0"/>
  </joint>
  <joint name="left_f3_1_accel" type="fixed">
    <parent link="left_f3_1"/>
    <child link="left_f3_1_accel"/>
    <origin rpy="-1.57079632679 0 0" xyz="0.03 0 0"/>
  </joint>
  <joint name="left_f3_2_accel" type="fixed">
    <parent link="left_f3_2"/>
    <child link="left_f3_2_accel"/>
    <origin rpy="-1.57079632679 0 0" xyz="0.04 0 0"/>
  </joint>
  <transmission name="left_f3_j0" type="pr2_mechanism_model/SimpleTransmission">
    <joint name="left_f3_j0"/>
    <actuator name="left_f3_j0_motor"/>
    <mechanicalReduction>1</mechanicalReduction>
  </transmission>
  <transmission name="left_f3_j1" type="pr2_mechanism_model/SimpleTransmission">
    <joint name="left_f3_j1"/>
    <actuator name="left_f3_j1_motor"/>
    <mechanicalReduction>1</mechanicalReduction>
  </transmission>
  <transmission name="left_f3_j2" type="pr2_mechanism_model/SimpleTransmission">
    <joint name="left_f3_j2"/>
    <actuator name="left_f3_j2_motor"/>
    <mechanicalReduction>1</mechanicalReduction>
  </transmission>
  <gazebo reference="left_f3_base">
    <mu1>0.9</mu1>
    <mu2>0.9</mu2>
    <kp>10000.0</kp>
    <kd>1.0</kd>
    <maxVel>0.1</maxVel>
    <minDepth>0.0</minDepth>
  </gazebo>
  <gazebo reference="left_f3_0">
    <mu1>0.9</mu1>
    <mu2>0.9</mu2>
    <kp>10000.0</kp>
    <kd>1.0</kd>
    <maxVel>1.0</maxVel>
    <minDepth>0.0</minDepth>
  </gazebo>
  <gazebo reference="left_f3_1">
    <mu1>0.9</mu1>
    <mu2>0.9</mu2>
    <kp>10000.0</kp>
    <kd>1.0</kd>
    <maxVel>0.1</maxVel>
    <minDepth>0.0</minDepth>
  </gazebo>
  <gazebo reference="left_f3_2">
    <mu1>0.9</mu1>
    <mu2>0.9</mu2>
    <kp>10000.0</kp>
    <kd>1.0</kd>
    <maxVel>0.1</maxVel>
    <minDepth>0.0</minDepth>
  </gazebo>
  <gazebo reference="left_f3_j0">
    <cfmDamping>1</cfmDamping>
  </gazebo>
  <gazebo reference="left_f3_j1">
    <cfmDamping>1</cfmDamping>
  </gazebo>
  <gazebo reference="left_f3_j2">
    <cfmDamping>1</cfmDamping>
  </gazebo>
  <gazebo reference="left_palm">
    <mu1>0.9</mu1>
    <mu2>0.9</mu2>
  </gazebo>
  <joint name="left_palm_left_camera_frame_joint" type="fixed">
    <origin rpy="-0.6708 -1.57079632679 3.14159265359" xyz="0.0435128991906 -0.0451672761576 0.025"/>
    <parent link="left_palm"/>
    <child link="left_palm_left_camera_frame"/>
  </joint>
  <link name="left_palm_left_camera_frame">
    <inertial>
      <mass value="0.01"/>
      <origin xyz="0 0 0"/>
      <inertia ixx="0.0001" ixy="0.0" ixz="0.0" iyy="0.0001" iyz="0.0" izz="0.0001"/>
    </inertial>
    <visual group="default">
      <origin rpy="0 0 0" xyz="0 0 0"/>
      <geometry>
        <box size="0.003 0.010 0.007"/>
      </geometry>
    </visual>
  </link>
  <joint name="left_palm_left_camera_optical_frame_joint" type="fixed">
    <origin rpy="-1.57079632679 0.0 -1.57079632679" xyz="0 0 0"/>
    <parent link="left_palm_left_camera_frame"/>
    <child link="left_palm_left_camera_optical_frame"/>
  </joint>
  <link name="left_palm_left_camera_optical_frame"/>
  <gazebo reference="left_palm_left_camera_frame">
    <sensor name="left_palm_stereo_camera" type="multicamera">
      <update_rate>60.0</update_rate>
      <camera name="left">
        <horizontal_fov>1.25663706144</horizontal_fov>
        <image>
          <width>752</width>
          <height>480</height>
          <format>L8</format>
        </image>
        <clip>
          <near>0.02</near>
          <far>100</far>
        </clip>
        <noise>
          <type>gaussian</type>
          <mean>0.0</mean>
          <stddev>0.007</stddev>
        </noise>
      </camera>
      <camera name="right">
        <pose>0 -0.04 0  0 0 0</pose>
        <horizontal_fov>1.25663706144</horizontal_fov>
        <image>
          <width>752</width>
          <height>480</height>
          <format>L8</format>
        </image>
        <clip>
          <near>0.02</near>
          <far>100</far>
        </clip>
        <noise>
          <type>gaussian</type>
          <mean>0.0</mean>
          <stddev>0.007</stddev>
        </noise>
      </camera>
      <plugin filename="libgazebo_ros_multicamera.so" name="stereo_camera_controller">
        <alwaysOn>true</alwaysOn>
        <updateRate>0.0</updateRate>
        <cameraName>sandia_hands/left_base_yaw/camera</cameraName>
        <imageTopicName>image_raw</imageTopicName>
        <cameraInfoTopicName>camera_info</cameraInfoTopicName>
        <frameName>left_palm_left_camera_optical_frame</frameName>
        <hackBaseline>0.04</hackBaseline>
        <distortionK1>0.0</distortionK1>
        <distortionK2>0.0</distortionK2>
        <distortionK3>0.0</distortionK3>
        <distortionT1>0.0</distortionT1>
        <distortionT2>0.0</distortionT2>
      </plugin>
    </sensor>
  </gazebo>
  <joint name="left_palm_right_camera_frame_joint" type="fixed">
    <origin rpy="-0.6708 -1.57079632679 3.14159265359" xyz="0.0683774130138 -0.0138342911048 0.025"/>
    <parent link="left_palm"/>
    <child link="left_palm_right_camera_frame"/>
  </joint>
  <link name="left_palm_right_camera_frame">
    <inertial>
      <mass value="0.01"/>
      <origin xyz="0 0 0"/>
      <inertia ixx="0.0001" ixy="0.0" ixz="0.0" iyy="0.0001" iyz="0.0" izz="0.0001"/>
    </inertial>
    <visual group="default">
      <origin rpy="0 0 0" xyz="0 0 0"/>
      <geometry>
        <box size="0.003 0.010 0.007"/>
      </geometry>
    </visual>
  </link>
  <joint name="left_palm_right_camera_optical_frame_joint" type="fixed">
    <origin rpy="-1.57079632679 0.0 -1.57079632679" xyz="0 0 0"/>
    <parent link="left_palm_right_camera_frame"/>
    <child link="left_palm_right_camera_optical_frame"/>
  </joint>
  <link name="left_palm_right_camera_optical_frame"/>
  <gazebo>
    <plugin filename="liboracle_plugin.so" name="oracle_plugin"/>
    <plugin filename="libFloatingSandiaHandPlugin.so" name="floating_sandia_hand_plugin"/>
  </gazebo>
</robot>
